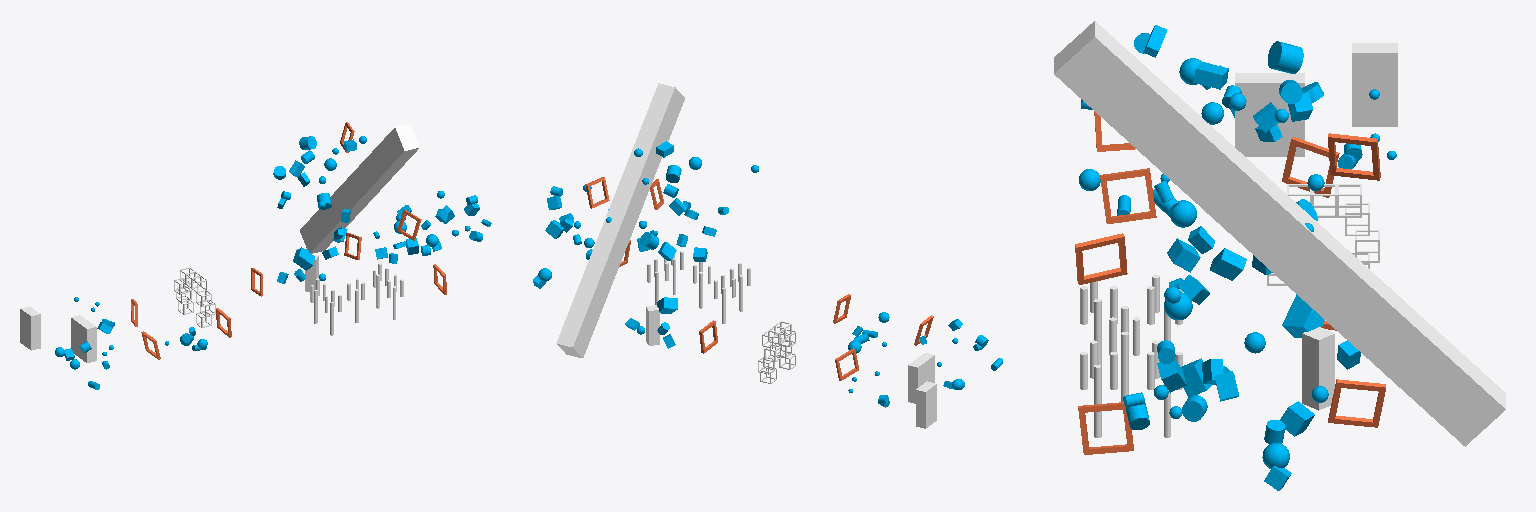
--- What the picture shows (computed from the rendered views, not written in the file) ---
3 views of the same robot in one strip: view 1: azimuth 30°, elevation 25°; view 2: azimuth 150°, elevation 25°; view 3: azimuth 270°, elevation 25° (orthographic).
Model track_rmua with 48 links and 47 joints (47 fixed), rooted at base, posed every joint at zero.
Visible links, largest first — view 1: obstacle_2, random_obstacle_5, random_obstacle_4, obstacle_0, obstacle_1, random_obstacle_1, random_obstacle_3; view 2: obstacle_2, random_obstacle_5, random_obstacle_4, obstacle_1, obstacle_0, random_obstacle_3, random_obstacle_1, obstacle_12; view 3: obstacle_2, random_obstacle_4, random_obstacle_5, obstacle_1, obstacle_0, obstacle_12, random_obstacle_0, random_obstacle_3, gate_7, gate_9, gate_8, random_obstacle_1 (+4 smaller).
Boxes of the visible links, x1=… form: obstacle_2: x1=300, y1=123, x2=419, y2=253; random_obstacle_5: x1=273, y1=136, x2=379, y2=259; random_obstacle_4: x1=375, y1=191, x2=491, y2=263; obstacle_0: x1=71, y1=315, x2=96, y2=362; obstacle_1: x1=20, y1=306, x2=40, y2=350; random_obstacle_1: x1=55, y1=319, x2=114, y2=389; random_obstacle_3: x1=277, y1=247, x2=325, y2=283; obstacle_2: x1=556, y1=83, x2=684, y2=357; random_obstacle_5: x1=606, y1=141, x2=758, y2=261; random_obstacle_4: x1=533, y1=184, x2=608, y2=288; obstacle_1: x1=916, y1=381, x2=936, y2=428; obstacle_0: x1=908, y1=353, x2=934, y2=403; random_obstacle_3: x1=625, y1=297, x2=677, y2=348; random_obstacle_1: x1=919, y1=319, x2=1002, y2=389; obstacle_12: x1=646, y1=305, x2=659, y2=345; obstacle_2: x1=1054, y1=21, x2=1505, y2=446; random_obstacle_4: x1=1123, y1=275, x2=1314, y2=490; random_obstacle_5: x1=1167, y1=41, x2=1324, y2=288; obstacle_1: x1=1352, y1=43, x2=1397, y2=126; obstacle_0: x1=1235, y1=73, x2=1304, y2=156; obstacle_12: x1=1302, y1=327, x2=1334, y2=410; random_obstacle_0: x1=1079, y1=169, x2=1196, y2=227; random_obstacle_3: x1=1282, y1=294, x2=1360, y2=402; gate_7: x1=1328, y1=379, x2=1385, y2=427; gate_9: x1=1328, y1=133, x2=1380, y2=180; gate_8: x1=1075, y1=233, x2=1127, y2=284; random_obstacle_1: x1=1081, y1=25, x2=1234, y2=124.
Bounding box of the posed robot: 26.16 × 11.67 × 11.83 m (x, y, z).
Geometry: primitives only (box / cylinder / sphere), no mesh files.

The robot description file, URDF, robot "track_rmua":
<?xml version='1.0' encoding='UTF-8'?>
<robot name="track_rmua">
    <link name="base">
        <inertial>
            <origin xyz="0.0 0.0 0.0" rpy="0.0 -0.0 0.0"/>
            <mass value="1.0"/>
            <inertia ixx="1.0" ixy="0.0" ixz="0.0" iyy="1.0" iyz="0.0" izz="1.0"/>
        </inertial>
    </link>
    <link name="obstacle_0">
        <inertial>
            <origin xyz="0.0 0.0 0.0" rpy="0.0 -0.0 0.0"/>
            <mass value="1.0"/>
            <inertia ixx="1.0" ixy="0.0" ixz="0.0" iyy="1.0" iyz="0.0" izz="1.0"/>
        </inertial>
        <visual>
            <geometry>
                <box size="0.6 1.8 2.1"/>
            </geometry>
            <material name="color[1.0, 1.0, 1.0, 1.0]"/>
            <origin xyz="0.0 0.0 0.0" rpy="0.0 -0.0 0.0"/>
        </visual>
        <collision>
            <geometry>
                <box size="0.6 1.8 2.1"/>
            </geometry>
            <origin xyz="0.0 0.0 0.0" rpy="0.0 -0.0 0.0"/>
        </collision>
    </link>
    <link name="obstacle_1">
        <inertial>
            <origin xyz="0.0 0.0 0.0" rpy="0.0 -0.0 0.0"/>
            <mass value="1.0"/>
            <inertia ixx="1.0" ixy="0.0" ixz="0.0" iyy="1.0" iyz="0.0" izz="1.0"/>
        </inertial>
        <visual>
            <geometry>
                <box size="0.6 1.2 2.1"/>
            </geometry>
            <material name="color[1.0, 1.0, 1.0, 1.0]"/>
            <origin xyz="0.0 0.0 0.0" rpy="0.0 -0.0 0.0"/>
        </visual>
        <collision>
            <geometry>
                <box size="0.6 1.2 2.1"/>
            </geometry>
            <origin xyz="0.0 0.0 0.0" rpy="0.0 -0.0 0.0"/>
        </collision>
    </link>
    <link name="obstacle_2">
        <inertial>
            <origin xyz="0.0 0.0 0.0" rpy="0.0 -0.0 0.0"/>
            <mass value="1.0"/>
            <inertia ixx="1.0" ixy="0.0" ixz="0.0" iyy="1.0" iyz="0.0" izz="1.0"/>
        </inertial>
        <visual>
            <geometry>
                <box size=" 1.   1.5 15. "/>
            </geometry>
            <material name="color[1.0, 1.0, 1.0, 1.0]"/>
            <origin xyz="0.0 0.0 0.0" rpy="0.0 -0.0 0.0"/>
        </visual>
        <collision>
            <geometry>
                <box size=" 1.   1.5 15. "/>
            </geometry>
            <origin xyz="0.0 0.0 0.0" rpy="0.0 -0.0 0.0"/>
        </collision>
    </link>
    <link name="obstacle_3">
        <inertial>
            <origin xyz="0.0 0.0 0.0" rpy="0.0 -0.0 0.0"/>
            <mass value="1.0"/>
            <inertia ixx="1.0" ixy="0.0" ixz="0.0" iyy="1.0" iyz="0.0" izz="1.0"/>
        </inertial>
        <visual>
            <geometry>
                <box size="0.65 0.05 0.05"/>
            </geometry>
            <material name="color[1.0, 1.0, 1.0, 1.0]"/>
            <origin xyz="0.0 0.3 0.3" rpy="0.0 0.0 0.0"/>
        </visual>
        <visual>
            <geometry>
                <box size="0.65 0.05 0.05"/>
            </geometry>
            <material name="color[1.0, 1.0, 1.0, 1.0]"/>
            <origin xyz="0.0 0.3 -0.3" rpy="0.0 0.0 0.0"/>
        </visual>
        <visual>
            <geometry>
                <box size="0.65 0.05 0.05"/>
            </geometry>
            <material name="color[1.0, 1.0, 1.0, 1.0]"/>
            <origin xyz="0.0 -0.3 0.3" rpy="0.0 0.0 0.0"/>
        </visual>
        <visual>
            <geometry>
                <box size="0.65 0.05 0.05"/>
            </geometry>
            <material name="color[1.0, 1.0, 1.0, 1.0]"/>
            <origin xyz="0.0 -0.3 -0.3" rpy="0.0 0.0 0.0"/>
        </visual>
        <visual>
            <geometry>
                <box size="0.05 0.65 0.05"/>
            </geometry>
            <material name="color[1.0, 1.0, 1.0, 1.0]"/>
            <origin xyz="0.3 0.0 0.3" rpy="0.0 0.0 0.0"/>
        </visual>
        <visual>
            <geometry>
                <box size="0.05 0.65 0.05"/>
            </geometry>
            <material name="color[1.0, 1.0, 1.0, 1.0]"/>
            <origin xyz="0.3 0.0 -0.3" rpy="0.0 0.0 0.0"/>
        </visual>
        <visual>
            <geometry>
                <box size="0.05 0.65 0.05"/>
            </geometry>
            <material name="color[1.0, 1.0, 1.0, 1.0]"/>
            <origin xyz="-0.3 0.0 0.3" rpy="0.0 0.0 0.0"/>
        </visual>
        <visual>
            <geometry>
                <box size="0.05 0.65 0.05"/>
            </geometry>
            <material name="color[1.0, 1.0, 1.0, 1.0]"/>
            <origin xyz="-0.3 0.0 -0.3" rpy="0.0 0.0 0.0"/>
        </visual>
        <visual>
            <geometry>
                <box size="0.05 0.05 0.65"/>
            </geometry>
            <material name="color[1.0, 1.0, 1.0, 1.0]"/>
            <origin xyz="0.3 0.3 0.0" rpy="0.0 0.0 0.0"/>
        </visual>
        <visual>
            <geometry>
                <box size="0.05 0.05 0.65"/>
            </geometry>
            <material name="color[1.0, 1.0, 1.0, 1.0]"/>
            <origin xyz="0.3 -0.3 0.0" rpy="0.0 0.0 0.0"/>
        </visual>
        <visual>
            <geometry>
                <box size="0.05 0.05 0.65"/>
            </geometry>
            <material name="color[1.0, 1.0, 1.0, 1.0]"/>
            <origin xyz="-0.3 0.3 0.0" rpy="0.0 0.0 0.0"/>
        </visual>
        <visual>
            <geometry>
                <box size="0.05 0.05 0.65"/>
            </geometry>
            <material name="color[1.0, 1.0, 1.0, 1.0]"/>
            <origin xyz="-0.3 -0.3 0.0" rpy="0.0 0.0 0.0"/>
        </visual>
        <collision>
            <geometry>
                <box size="0.65 0.05 0.05"/>
            </geometry>
            <origin xyz="0.0 0.3 0.3" rpy="0.0 0.0 0.0"/>
        </collision>
        <collision>
            <geometry>
                <box size="0.65 0.05 0.05"/>
            </geometry>
            <origin xyz="0.0 0.3 -0.3" rpy="0.0 0.0 0.0"/>
        </collision>
        <collision>
            <geometry>
                <box size="0.65 0.05 0.05"/>
            </geometry>
            <origin xyz="0.0 -0.3 0.3" rpy="0.0 0.0 0.0"/>
        </collision>
        <collision>
            <geometry>
                <box size="0.65 0.05 0.05"/>
            </geometry>
            <origin xyz="0.0 -0.3 -0.3" rpy="0.0 0.0 0.0"/>
        </collision>
        <collision>
            <geometry>
                <box size="0.05 0.65 0.05"/>
            </geometry>
            <origin xyz="0.3 0.0 0.3" rpy="0.0 0.0 0.0"/>
        </collision>
        <collision>
            <geometry>
                <box size="0.05 0.65 0.05"/>
            </geometry>
            <origin xyz="0.3 0.0 -0.3" rpy="0.0 0.0 0.0"/>
        </collision>
        <collision>
            <geometry>
                <box size="0.05 0.65 0.05"/>
            </geometry>
            <origin xyz="-0.3 0.0 0.3" rpy="0.0 0.0 0.0"/>
        </collision>
        <collision>
            <geometry>
                <box size="0.05 0.65 0.05"/>
            </geometry>
            <origin xyz="-0.3 0.0 -0.3" rpy="0.0 0.0 0.0"/>
        </collision>
        <collision>
            <geometry>
                <box size="0.05 0.05 0.65"/>
            </geometry>
            <origin xyz="0.3 0.3 0.0" rpy="0.0 0.0 0.0"/>
        </collision>
        <collision>
            <geometry>
                <box size="0.05 0.05 0.65"/>
            </geometry>
            <origin xyz="0.3 -0.3 0.0" rpy="0.0 0.0 0.0"/>
        </collision>
        <collision>
            <geometry>
                <box size="0.05 0.05 0.65"/>
            </geometry>
            <origin xyz="-0.3 0.3 0.0" rpy="0.0 0.0 0.0"/>
        </collision>
        <collision>
            <geometry>
                <box size="0.05 0.05 0.65"/>
            </geometry>
            <origin xyz="-0.3 -0.3 0.0" rpy="0.0 0.0 0.0"/>
        </collision>
    </link>
    <link name="obstacle_4">
        <inertial>
            <origin xyz="0.0 0.0 0.0" rpy="0.0 -0.0 0.0"/>
            <mass value="1.0"/>
            <inertia ixx="1.0" ixy="0.0" ixz="0.0" iyy="1.0" iyz="0.0" izz="1.0"/>
        </inertial>
        <visual>
            <geometry>
                <box size="0.65 0.05 0.05"/>
            </geometry>
            <material name="color[1.0, 1.0, 1.0, 1.0]"/>
            <origin xyz="0.0 0.3 0.3" rpy="0.0 0.0 0.0"/>
        </visual>
        <visual>
            <geometry>
                <box size="0.65 0.05 0.05"/>
            </geometry>
            <material name="color[1.0, 1.0, 1.0, 1.0]"/>
            <origin xyz="0.0 0.3 -0.3" rpy="0.0 0.0 0.0"/>
        </visual>
        <visual>
            <geometry>
                <box size="0.65 0.05 0.05"/>
            </geometry>
            <material name="color[1.0, 1.0, 1.0, 1.0]"/>
            <origin xyz="0.0 -0.3 0.3" rpy="0.0 0.0 0.0"/>
        </visual>
        <visual>
            <geometry>
                <box size="0.65 0.05 0.05"/>
            </geometry>
            <material name="color[1.0, 1.0, 1.0, 1.0]"/>
            <origin xyz="0.0 -0.3 -0.3" rpy="0.0 0.0 0.0"/>
        </visual>
        <visual>
            <geometry>
                <box size="0.05 0.65 0.05"/>
            </geometry>
            <material name="color[1.0, 1.0, 1.0, 1.0]"/>
            <origin xyz="0.3 0.0 0.3" rpy="0.0 0.0 0.0"/>
        </visual>
        <visual>
            <geometry>
                <box size="0.05 0.65 0.05"/>
            </geometry>
            <material name="color[1.0, 1.0, 1.0, 1.0]"/>
            <origin xyz="0.3 0.0 -0.3" rpy="0.0 0.0 0.0"/>
        </visual>
        <visual>
            <geometry>
                <box size="0.05 0.65 0.05"/>
            </geometry>
            <material name="color[1.0, 1.0, 1.0, 1.0]"/>
            <origin xyz="-0.3 0.0 0.3" rpy="0.0 0.0 0.0"/>
        </visual>
        <visual>
            <geometry>
                <box size="0.05 0.65 0.05"/>
            </geometry>
            <material name="color[1.0, 1.0, 1.0, 1.0]"/>
            <origin xyz="-0.3 0.0 -0.3" rpy="0.0 0.0 0.0"/>
        </visual>
        <visual>
            <geometry>
                <box size="0.05 0.05 0.65"/>
            </geometry>
            <material name="color[1.0, 1.0, 1.0, 1.0]"/>
            <origin xyz="0.3 0.3 0.0" rpy="0.0 0.0 0.0"/>
        </visual>
        <visual>
            <geometry>
                <box size="0.05 0.05 0.65"/>
            </geometry>
            <material name="color[1.0, 1.0, 1.0, 1.0]"/>
            <origin xyz="0.3 -0.3 0.0" rpy="0.0 0.0 0.0"/>
        </visual>
        <visual>
            <geometry>
                <box size="0.05 0.05 0.65"/>
            </geometry>
            <material name="color[1.0, 1.0, 1.0, 1.0]"/>
            <origin xyz="-0.3 0.3 0.0" rpy="0.0 0.0 0.0"/>
        </visual>
        <visual>
            <geometry>
                <box size="0.05 0.05 0.65"/>
            </geometry>
            <material name="color[1.0, 1.0, 1.0, 1.0]"/>
            <origin xyz="-0.3 -0.3 0.0" rpy="0.0 0.0 0.0"/>
        </visual>
        <collision>
            <geometry>
                <box size="0.65 0.05 0.05"/>
            </geometry>
            <origin xyz="0.0 0.3 0.3" rpy="0.0 0.0 0.0"/>
        </collision>
        <collision>
            <geometry>
                <box size="0.65 0.05 0.05"/>
            </geometry>
            <origin xyz="0.0 0.3 -0.3" rpy="0.0 0.0 0.0"/>
        </collision>
        <collision>
            <geometry>
                <box size="0.65 0.05 0.05"/>
            </geometry>
            <origin xyz="0.0 -0.3 0.3" rpy="0.0 0.0 0.0"/>
        </collision>
        <collision>
            <geometry>
                <box size="0.65 0.05 0.05"/>
            </geometry>
            <origin xyz="0.0 -0.3 -0.3" rpy="0.0 0.0 0.0"/>
        </collision>
        <collision>
            <geometry>
                <box size="0.05 0.65 0.05"/>
            </geometry>
            <origin xyz="0.3 0.0 0.3" rpy="0.0 0.0 0.0"/>
        </collision>
        <collision>
            <geometry>
                <box size="0.05 0.65 0.05"/>
            </geometry>
            <origin xyz="0.3 0.0 -0.3" rpy="0.0 0.0 0.0"/>
        </collision>
        <collision>
            <geometry>
                <box size="0.05 0.65 0.05"/>
            </geometry>
            <origin xyz="-0.3 0.0 0.3" rpy="0.0 0.0 0.0"/>
        </collision>
        <collision>
            <geometry>
                <box size="0.05 0.65 0.05"/>
            </geometry>
            <origin xyz="-0.3 0.0 -0.3" rpy="0.0 0.0 0.0"/>
        </collision>
        <collision>
            <geometry>
                <box size="0.05 0.05 0.65"/>
            </geometry>
            <origin xyz="0.3 0.3 0.0" rpy="0.0 0.0 0.0"/>
        </collision>
        <collision>
            <geometry>
                <box size="0.05 0.05 0.65"/>
            </geometry>
            <origin xyz="0.3 -0.3 0.0" rpy="0.0 0.0 0.0"/>
        </collision>
        <collision>
            <geometry>
                <box size="0.05 0.05 0.65"/>
            </geometry>
            <origin xyz="-0.3 0.3 0.0" rpy="0.0 0.0 0.0"/>
        </collision>
        <collision>
            <geometry>
                <box size="0.05 0.05 0.65"/>
            </geometry>
            <origin xyz="-0.3 -0.3 0.0" rpy="0.0 0.0 0.0"/>
        </collision>
    </link>
    <link name="obstacle_5">
        <inertial>
            <origin xyz="0.0 0.0 0.0" rpy="0.0 -0.0 0.0"/>
            <mass value="1.0"/>
            <inertia ixx="1.0" ixy="0.0" ixz="0.0" iyy="1.0" iyz="0.0" izz="1.0"/>
        </inertial>
        <visual>
            <geometry>
                <box size="0.65 0.05 0.05"/>
            </geometry>
            <material name="color[1.0, 1.0, 1.0, 1.0]"/>
            <origin xyz="0.0 0.3 0.3" rpy="0.0 0.0 0.0"/>
        </visual>
        <visual>
            <geometry>
                <box size="0.65 0.05 0.05"/>
            </geometry>
            <material name="color[1.0, 1.0, 1.0, 1.0]"/>
            <origin xyz="0.0 0.3 -0.3" rpy="0.0 0.0 0.0"/>
        </visual>
        <visual>
            <geometry>
                <box size="0.65 0.05 0.05"/>
            </geometry>
            <material name="color[1.0, 1.0, 1.0, 1.0]"/>
            <origin xyz="0.0 -0.3 0.3" rpy="0.0 0.0 0.0"/>
        </visual>
        <visual>
            <geometry>
                <box size="0.65 0.05 0.05"/>
            </geometry>
            <material name="color[1.0, 1.0, 1.0, 1.0]"/>
            <origin xyz="0.0 -0.3 -0.3" rpy="0.0 0.0 0.0"/>
        </visual>
        <visual>
            <geometry>
                <box size="0.05 0.65 0.05"/>
            </geometry>
            <material name="color[1.0, 1.0, 1.0, 1.0]"/>
            <origin xyz="0.3 0.0 0.3" rpy="0.0 0.0 0.0"/>
        </visual>
        <visual>
            <geometry>
                <box size="0.05 0.65 0.05"/>
            </geometry>
            <material name="color[1.0, 1.0, 1.0, 1.0]"/>
            <origin xyz="0.3 0.0 -0.3" rpy="0.0 0.0 0.0"/>
        </visual>
        <visual>
            <geometry>
                <box size="0.05 0.65 0.05"/>
            </geometry>
            <material name="color[1.0, 1.0, 1.0, 1.0]"/>
            <origin xyz="-0.3 0.0 0.3" rpy="0.0 0.0 0.0"/>
        </visual>
        <visual>
            <geometry>
                <box size="0.05 0.65 0.05"/>
            </geometry>
            <material name="color[1.0, 1.0, 1.0, 1.0]"/>
            <origin xyz="-0.3 0.0 -0.3" rpy="0.0 0.0 0.0"/>
        </visual>
        <visual>
            <geometry>
                <box size="0.05 0.05 0.65"/>
            </geometry>
            <material name="color[1.0, 1.0, 1.0, 1.0]"/>
            <origin xyz="0.3 0.3 0.0" rpy="0.0 0.0 0.0"/>
        </visual>
        <visual>
            <geometry>
                <box size="0.05 0.05 0.65"/>
            </geometry>
            <material name="color[1.0, 1.0, 1.0, 1.0]"/>
            <origin xyz="0.3 -0.3 0.0" rpy="0.0 0.0 0.0"/>
        </visual>
        <visual>
            <geometry>
                <box size="0.05 0.05 0.65"/>
            </geometry>
            <material name="color[1.0, 1.0, 1.0, 1.0]"/>
            <origin xyz="-0.3 0.3 0.0" rpy="0.0 0.0 0.0"/>
        </visual>
        <visual>
            <geometry>
                <box size="0.05 0.05 0.65"/>
            </geometry>
            <material name="color[1.0, 1.0, 1.0, 1.0]"/>
            <origin xyz="-0.3 -0.3 0.0" rpy="0.0 0.0 0.0"/>
        </visual>
        <collision>
            <geometry>
                <box size="0.65 0.05 0.05"/>
            </geometry>
            <origin xyz="0.0 0.3 0.3" rpy="0.0 0.0 0.0"/>
        </collision>
        <collision>
            <geometry>
                <box size="0.65 0.05 0.05"/>
            </geometry>
            <origin xyz="0.0 0.3 -0.3" rpy="0.0 0.0 0.0"/>
        </collision>
        <collision>
            <geometry>
                <box size="0.65 0.05 0.05"/>
            </geometry>
            <origin xyz="0.0 -0.3 0.3" rpy="0.0 0.0 0.0"/>
        </collision>
        <collision>
            <geometry>
                <box size="0.65 0.05 0.05"/>
            </geometry>
            <origin xyz="0.0 -0.3 -0.3" rpy="0.0 0.0 0.0"/>
        </collision>
        <collision>
            <geometry>
                <box size="0.05 0.65 0.05"/>
            </geometry>
            <origin xyz="0.3 0.0 0.3" rpy="0.0 0.0 0.0"/>
        </collision>
        <collision>
            <geometry>
                <box size="0.05 0.65 0.05"/>
            </geometry>
            <origin xyz="0.3 0.0 -0.3" rpy="0.0 0.0 0.0"/>
        </collision>
        <collision>
            <geometry>
                <box size="0.05 0.65 0.05"/>
            </geometry>
            <origin xyz="-0.3 0.0 0.3" rpy="0.0 0.0 0.0"/>
        </collision>
        <collision>
            <geometry>
                <box size="0.05 0.65 0.05"/>
            </geometry>
            <origin xyz="-0.3 0.0 -0.3" rpy="0.0 0.0 0.0"/>
        </collision>
        <collision>
            <geometry>
                <box size="0.05 0.05 0.65"/>
            </geometry>
            <origin xyz="0.3 0.3 0.0" rpy="0.0 0.0 0.0"/>
        </collision>
        <collision>
            <geometry>
                <box size="0.05 0.05 0.65"/>
            </geometry>
            <origin xyz="0.3 -0.3 0.0" rpy="0.0 0.0 0.0"/>
        </collision>
        <collision>
            <geometry>
                <box size="0.05 0.05 0.65"/>
            </geometry>
            <origin xyz="-0.3 0.3 0.0" rpy="0.0 0.0 0.0"/>
        </collision>
        <collision>
            <geometry>
                <box size="0.05 0.05 0.65"/>
            </geometry>
            <origin xyz="-0.3 -0.3 0.0" rpy="0.0 0.0 0.0"/>
        </collision>
    </link>
    <link name="obstacle_6">
        <inertial>
            <origin xyz="0.0 0.0 0.0" rpy="0.0 -0.0 0.0"/>
            <mass value="1.0"/>
            <inertia ixx="1.0" ixy="0.0" ixz="0.0" iyy="1.0" iyz="0.0" izz="1.0"/>
        </inertial>
        <visual>
            <geometry>
                <box size="0.65 0.05 0.05"/>
            </geometry>
            <material name="color[1.0, 1.0, 1.0, 1.0]"/>
            <origin xyz="0.0 0.3 0.3" rpy="0.0 0.0 0.0"/>
        </visual>
        <visual>
            <geometry>
                <box size="0.65 0.05 0.05"/>
            </geometry>
            <material name="color[1.0, 1.0, 1.0, 1.0]"/>
            <origin xyz="0.0 0.3 -0.3" rpy="0.0 0.0 0.0"/>
        </visual>
        <visual>
            <geometry>
                <box size="0.65 0.05 0.05"/>
            </geometry>
            <material name="color[1.0, 1.0, 1.0, 1.0]"/>
            <origin xyz="0.0 -0.3 0.3" rpy="0.0 0.0 0.0"/>
        </visual>
        <visual>
            <geometry>
                <box size="0.65 0.05 0.05"/>
            </geometry>
            <material name="color[1.0, 1.0, 1.0, 1.0]"/>
            <origin xyz="0.0 -0.3 -0.3" rpy="0.0 0.0 0.0"/>
        </visual>
        <visual>
            <geometry>
                <box size="0.05 0.65 0.05"/>
            </geometry>
            <material name="color[1.0, 1.0, 1.0, 1.0]"/>
            <origin xyz="0.3 0.0 0.3" rpy="0.0 0.0 0.0"/>
        </visual>
        <visual>
            <geometry>
                <box size="0.05 0.65 0.05"/>
            </geometry>
            <material name="color[1.0, 1.0, 1.0, 1.0]"/>
            <origin xyz="0.3 0.0 -0.3" rpy="0.0 0.0 0.0"/>
        </visual>
        <visual>
            <geometry>
                <box size="0.05 0.65 0.05"/>
            </geometry>
            <material name="color[1.0, 1.0, 1.0, 1.0]"/>
            <origin xyz="-0.3 0.0 0.3" rpy="0.0 0.0 0.0"/>
        </visual>
        <visual>
            <geometry>
                <box size="0.05 0.65 0.05"/>
            </geometry>
            <material name="color[1.0, 1.0, 1.0, 1.0]"/>
            <origin xyz="-0.3 0.0 -0.3" rpy="0.0 0.0 0.0"/>
        </visual>
        <visual>
            <geometry>
                <box size="0.05 0.05 0.65"/>
            </geometry>
            <material name="color[1.0, 1.0, 1.0, 1.0]"/>
            <origin xyz="0.3 0.3 0.0" rpy="0.0 0.0 0.0"/>
        </visual>
        <visual>
            <geometry>
                <box size="0.05 0.05 0.65"/>
            </geometry>
            <material name="color[1.0, 1.0, 1.0, 1.0]"/>
            <origin xyz="0.3 -0.3 0.0" rpy="0.0 0.0 0.0"/>
        </visual>
        <visual>
            <geometry>
                <box size="0.05 0.05 0.65"/>
            </geometry>
            <material name="color[1.0, 1.0, 1.0, 1.0]"/>
            <origin xyz="-0.3 0.3 0.0" rpy="0.0 0.0 0.0"/>
        </visual>
        <visual>
            <geometry>
                <box size="0.05 0.05 0.65"/>
            </geometry>
            <material name="color[1.0, 1.0, 1.0, 1.0]"/>
            <origin xyz="-0.3 -0.3 0.0" rpy="0.0 0.0 0.0"/>
        </visual>
        <collision>
            <geometry>
                <box size="0.65 0.05 0.05"/>
            </geometry>
            <origin xyz="0.0 0.3 0.3" rpy="0.0 0.0 0.0"/>
        </collision>
        <collision>
            <geometry>
                <box size="0.65 0.05 0.05"/>
            </geometry>
            <origin xyz="0.0 0.3 -0.3" rpy="0.0 0.0 0.0"/>
        </collision>
        <collision>
            <geometry>
                <box size="0.65 0.05 0.05"/>
            </geometry>
            <origin xyz="0.0 -0.3 0.3" rpy="0.0 0.0 0.0"/>
        </collision>
        <collision>
            <geometry>
                <box size="0.65 0.05 0.05"/>
            </geometry>
            <origin xyz="0.0 -0.3 -0.3" rpy="0.0 0.0 0.0"/>
        </collision>
        <collision>
            <geometry>
                <box size="0.05 0.65 0.05"/>
            </geometry>
            <origin xyz="0.3 0.0 0.3" rpy="0.0 0.0 0.0"/>
        </collision>
        <collision>
            <geometry>
                <box size="0.05 0.65 0.05"/>
            </geometry>
            <origin xyz="0.3 0.0 -0.3" rpy="0.0 0.0 0.0"/>
        </collision>
        <collision>
            <geometry>
                <box size="0.05 0.65 0.05"/>
            </geometry>
            <origin xyz="-0.3 0.0 0.3" rpy="0.0 0.0 0.0"/>
        </collision>
        <collision>
            <geometry>
                <box size="0.05 0.65 0.05"/>
            </geometry>
            <origin xyz="-0.3 0.0 -0.3" rpy="0.0 0.0 0.0"/>
        </collision>
        <collision>
            <geometry>
                <box size="0.05 0.05 0.65"/>
            </geometry>
            <origin xyz="0.3 0.3 0.0" rpy="0.0 0.0 0.0"/>
        </collision>
        <collision>
            <geometry>
                <box size="0.05 0.05 0.65"/>
            </geometry>
            <origin xyz="0.3 -0.3 0.0" rpy="0.0 0.0 0.0"/>
        </collision>
        <collision>
            <geometry>
                <box size="0.05 0.05 0.65"/>
            </geometry>
            <origin xyz="-0.3 0.3 0.0" rpy="0.0 0.0 0.0"/>
        </collision>
        <collision>
            <geometry>
                <box size="0.05 0.05 0.65"/>
            </geometry>
            <origin xyz="-0.3 -0.3 0.0" rpy="0.0 0.0 0.0"/>
        </collision>
    </link>
    <link name="obstacle_7">
        <inertial>
            <origin xyz="0.0 0.0 0.0" rpy="0.0 -0.0 0.0"/>
            <mass value="1.0"/>
            <inertia ixx="1.0" ixy="0.0" ixz="0.0" iyy="1.0" iyz="0.0" izz="1.0"/>
        </inertial>
        <visual>
            <geometry>
                <box size="0.65 0.05 0.05"/>
            </geometry>
            <material name="color[1.0, 1.0, 1.0, 1.0]"/>
            <origin xyz="0.0 0.3 0.3" rpy="0.0 0.0 0.0"/>
        </visual>
        <visual>
            <geometry>
                <box size="0.65 0.05 0.05"/>
            </geometry>
            <material name="color[1.0, 1.0, 1.0, 1.0]"/>
            <origin xyz="0.0 0.3 -0.3" rpy="0.0 0.0 0.0"/>
        </visual>
        <visual>
            <geometry>
                <box size="0.65 0.05 0.05"/>
            </geometry>
            <material name="color[1.0, 1.0, 1.0, 1.0]"/>
            <origin xyz="0.0 -0.3 0.3" rpy="0.0 0.0 0.0"/>
        </visual>
        <visual>
            <geometry>
                <box size="0.65 0.05 0.05"/>
            </geometry>
            <material name="color[1.0, 1.0, 1.0, 1.0]"/>
            <origin xyz="0.0 -0.3 -0.3" rpy="0.0 0.0 0.0"/>
        </visual>
        <visual>
            <geometry>
                <box size="0.05 0.65 0.05"/>
            </geometry>
            <material name="color[1.0, 1.0, 1.0, 1.0]"/>
            <origin xyz="0.3 0.0 0.3" rpy="0.0 0.0 0.0"/>
        </visual>
        <visual>
            <geometry>
                <box size="0.05 0.65 0.05"/>
            </geometry>
            <material name="color[1.0, 1.0, 1.0, 1.0]"/>
            <origin xyz="0.3 0.0 -0.3" rpy="0.0 0.0 0.0"/>
        </visual>
        <visual>
            <geometry>
                <box size="0.05 0.65 0.05"/>
            </geometry>
            <material name="color[1.0, 1.0, 1.0, 1.0]"/>
            <origin xyz="-0.3 0.0 0.3" rpy="0.0 0.0 0.0"/>
        </visual>
        <visual>
            <geometry>
                <box size="0.05 0.65 0.05"/>
            </geometry>
            <material name="color[1.0, 1.0, 1.0, 1.0]"/>
            <origin xyz="-0.3 0.0 -0.3" rpy="0.0 0.0 0.0"/>
        </visual>
        <visual>
            <geometry>
                <box size="0.05 0.05 0.65"/>
            </geometry>
            <material name="color[1.0, 1.0, 1.0, 1.0]"/>
            <origin xyz="0.3 0.3 0.0" rpy="0.0 0.0 0.0"/>
        </visual>
        <visual>
            <geometry>
                <box size="0.05 0.05 0.65"/>
            </geometry>
            <material name="color[1.0, 1.0, 1.0, 1.0]"/>
            <origin xyz="0.3 -0.3 0.0" rpy="0.0 0.0 0.0"/>
        </visual>
        <visual>
            <geometry>
                <box size="0.05 0.05 0.65"/>
            </geometry>
            <material name="color[1.0, 1.0, 1.0, 1.0]"/>
            <origin xyz="-0.3 0.3 0.0" rpy="0.0 0.0 0.0"/>
        </visual>
        <visual>
            <geometry>
                <box size="0.05 0.05 0.65"/>
            </geometry>
            <material name="color[1.0, 1.0, 1.0, 1.0]"/>
            <origin xyz="-0.3 -0.3 0.0" rpy="0.0 0.0 0.0"/>
        </visual>
        <collision>
            <geometry>
                <box size="0.65 0.05 0.05"/>
            </geometry>
            <origin xyz="0.0 0.3 0.3" rpy="0.0 0.0 0.0"/>
        </collision>
        <collision>
            <geometry>
                <box size="0.65 0.05 0.05"/>
            </geometry>
            <origin xyz="0.0 0.3 -0.3" rpy="0.0 0.0 0.0"/>
        </collision>
        <collision>
            <geometry>
                <box size="0.65 0.05 0.05"/>
            </geometry>
            <origin xyz="0.0 -0.3 0.3" rpy="0.0 0.0 0.0"/>
        </collision>
        <collision>
            <geometry>
                <box size="0.65 0.05 0.05"/>
            </geometry>
            <origin xyz="0.0 -0.3 -0.3" rpy="0.0 0.0 0.0"/>
        </collision>
        <collision>
            <geometry>
                <box size="0.05 0.65 0.05"/>
            </geometry>
            <origin xyz="0.3 0.0 0.3" rpy="0.0 0.0 0.0"/>
        </collision>
        <collision>
            <geometry>
                <box size="0.05 0.65 0.05"/>
            </geometry>
            <origin xyz="0.3 0.0 -0.3" rpy="0.0 0.0 0.0"/>
        </collision>
        <collision>
            <geometry>
                <box size="0.05 0.65 0.05"/>
            </geometry>
            <origin xyz="-0.3 0.0 0.3" rpy="0.0 0.0 0.0"/>
        </collision>
        <collision>
            <geometry>
                <box size="0.05 0.65 0.05"/>
            </geometry>
            <origin xyz="-0.3 0.0 -0.3" rpy="0.0 0.0 0.0"/>
        </collision>
        <collision>
            <geometry>
                <box size="0.05 0.05 0.65"/>
            </geometry>
            <origin xyz="0.3 0.3 0.0" rpy="0.0 0.0 0.0"/>
        </collision>
        <collision>
            <geometry>
                <box size="0.05 0.05 0.65"/>
            </geometry>
            <origin xyz="0.3 -0.3 0.0" rpy="0.0 0.0 0.0"/>
        </collision>
        <collision>
            <geometry>
                <box size="0.05 0.05 0.65"/>
            </geometry>
            <origin xyz="-0.3 0.3 0.0" rpy="0.0 0.0 0.0"/>
        </collision>
        <collision>
            <geometry>
                <box size="0.05 0.05 0.65"/>
            </geometry>
            <origin xyz="-0.3 -0.3 0.0" rpy="0.0 0.0 0.0"/>
        </collision>
    </link>
    <link name="obstacle_8">
        <inertial>
            <origin xyz="0.0 0.0 0.0" rpy="0.0 -0.0 0.0"/>
            <mass value="1.0"/>
            <inertia ixx="1.0" ixy="0.0" ixz="0.0" iyy="1.0" iyz="0.0" izz="1.0"/>
        </inertial>
        <visual>
            <geometry>
                <box size="0.65 0.05 0.05"/>
            </geometry>
            <material name="color[1.0, 1.0, 1.0, 1.0]"/>
            <origin xyz="0.0 0.3 0.3" rpy="0.0 0.0 0.0"/>
        </visual>
        <visual>
            <geometry>
                <box size="0.65 0.05 0.05"/>
            </geometry>
            <material name="color[1.0, 1.0, 1.0, 1.0]"/>
            <origin xyz="0.0 0.3 -0.3" rpy="0.0 0.0 0.0"/>
        </visual>
        <visual>
            <geometry>
                <box size="0.65 0.05 0.05"/>
            </geometry>
            <material name="color[1.0, 1.0, 1.0, 1.0]"/>
            <origin xyz="0.0 -0.3 0.3" rpy="0.0 0.0 0.0"/>
        </visual>
        <visual>
            <geometry>
                <box size="0.65 0.05 0.05"/>
            </geometry>
            <material name="color[1.0, 1.0, 1.0, 1.0]"/>
            <origin xyz="0.0 -0.3 -0.3" rpy="0.0 0.0 0.0"/>
        </visual>
        <visual>
            <geometry>
                <box size="0.05 0.65 0.05"/>
            </geometry>
            <material name="color[1.0, 1.0, 1.0, 1.0]"/>
            <origin xyz="0.3 0.0 0.3" rpy="0.0 0.0 0.0"/>
        </visual>
        <visual>
            <geometry>
                <box size="0.05 0.65 0.05"/>
            </geometry>
            <material name="color[1.0, 1.0, 1.0, 1.0]"/>
            <origin xyz="0.3 0.0 -0.3" rpy="0.0 0.0 0.0"/>
        </visual>
        <visual>
            <geometry>
                <box size="0.05 0.65 0.05"/>
            </geometry>
            <material name="color[1.0, 1.0, 1.0, 1.0]"/>
            <origin xyz="-0.3 0.0 0.3" rpy="0.0 0.0 0.0"/>
        </visual>
        <visual>
            <geometry>
                <box size="0.05 0.65 0.05"/>
            </geometry>
            <material name="color[1.0, 1.0, 1.0, 1.0]"/>
            <origin xyz="-0.3 0.0 -0.3" rpy="0.0 0.0 0.0"/>
        </visual>
        <visual>
            <geometry>
                <box size="0.05 0.05 0.65"/>
            </geometry>
            <material name="color[1.0, 1.0, 1.0, 1.0]"/>
            <origin xyz="0.3 0.3 0.0" rpy="0.0 0.0 0.0"/>
        </visual>
        <visual>
            <geometry>
                <box size="0.05 0.05 0.65"/>
            </geometry>
            <material name="color[1.0, 1.0, 1.0, 1.0]"/>
            <origin xyz="0.3 -0.3 0.0" rpy="0.0 0.0 0.0"/>
        </visual>
        <visual>
            <geometry>
                <box size="0.05 0.05 0.65"/>
            </geometry>
            <material name="color[1.0, 1.0, 1.0, 1.0]"/>
            <origin xyz="-0.3 0.3 0.0" rpy="0.0 0.0 0.0"/>
        </visual>
        <visual>
            <geometry>
                <box size="0.05 0.05 0.65"/>
            </geometry>
            <material name="color[1.0, 1.0, 1.0, 1.0]"/>
            <origin xyz="-0.3 -0.3 0.0" rpy="0.0 0.0 0.0"/>
        </visual>
        <collision>
            <geometry>
                <box size="0.65 0.05 0.05"/>
            </geometry>
            <origin xyz="0.0 0.3 0.3" rpy="0.0 0.0 0.0"/>
        </collision>
        <collision>
            <geometry>
                <box size="0.65 0.05 0.05"/>
            </geometry>
            <origin xyz="0.0 0.3 -0.3" rpy="0.0 0.0 0.0"/>
        </collision>
        <collision>
            <geometry>
                <box size="0.65 0.05 0.05"/>
            </geometry>
            <origin xyz="0.0 -0.3 0.3" rpy="0.0 0.0 0.0"/>
        </collision>
        <collision>
            <geometry>
                <box size="0.65 0.05 0.05"/>
            </geometry>
            <origin xyz="0.0 -0.3 -0.3" rpy="0.0 0.0 0.0"/>
        </collision>
        <collision>
            <geometry>
                <box size="0.05 0.65 0.05"/>
            </geometry>
            <origin xyz="0.3 0.0 0.3" rpy="0.0 0.0 0.0"/>
        </collision>
        <collision>
            <geometry>
                <box size="0.05 0.65 0.05"/>
            </geometry>
            <origin xyz="0.3 0.0 -0.3" rpy="0.0 0.0 0.0"/>
        </collision>
        <collision>
            <geometry>
                <box size="0.05 0.65 0.05"/>
            </geometry>
            <origin xyz="-0.3 0.0 0.3" rpy="0.0 0.0 0.0"/>
        </collision>
        <collision>
            <geometry>
                <box size="0.05 0.65 0.05"/>
            </geometry>
            <origin xyz="-0.3 0.0 -0.3" rpy="0.0 0.0 0.0"/>
        </collision>
        <collision>
            <geometry>
                <box size="0.05 0.05 0.65"/>
            </geometry>
            <origin xyz="0.3 0.3 0.0" rpy="0.0 0.0 0.0"/>
        </collision>
        <collision>
            <geometry>
                <box size="0.05 0.05 0.65"/>
            </geometry>
            <origin xyz="0.3 -0.3 0.0" rpy="0.0 0.0 0.0"/>
        </collision>
        <collision>
            <geometry>
                <box size="0.05 0.05 0.65"/>
            </geometry>
            <origin xyz="-0.3 0.3 0.0" rpy="0.0 0.0 0.0"/>
        </collision>
        <collision>
            <geometry>
                <box size="0.05 0.05 0.65"/>
            </geometry>
            <origin xyz="-0.3 -0.3 0.0" rpy="0.0 0.0 0.0"/>
        </collision>
    </link>
    <link name="obstacle_9">
        <inertial>
            <origin xyz="0.0 0.0 0.0" rpy="0.0 -0.0 0.0"/>
            <mass value="1.0"/>
            <inertia ixx="1.0" ixy="0.0" ixz="0.0" iyy="1.0" iyz="0.0" izz="1.0"/>
        </inertial>
        <visual>
            <geometry>
                <box size="0.65 0.05 0.05"/>
            </geometry>
            <material name="color[1.0, 1.0, 1.0, 1.0]"/>
            <origin xyz="0.0 0.3 0.3" rpy="0.0 0.0 0.0"/>
        </visual>
        <visual>
            <geometry>
                <box size="0.65 0.05 0.05"/>
            </geometry>
            <material name="color[1.0, 1.0, 1.0, 1.0]"/>
            <origin xyz="0.0 0.3 -0.3" rpy="0.0 0.0 0.0"/>
        </visual>
        <visual>
            <geometry>
                <box size="0.65 0.05 0.05"/>
            </geometry>
            <material name="color[1.0, 1.0, 1.0, 1.0]"/>
            <origin xyz="0.0 -0.3 0.3" rpy="0.0 0.0 0.0"/>
        </visual>
        <visual>
            <geometry>
                <box size="0.65 0.05 0.05"/>
            </geometry>
            <material name="color[1.0, 1.0, 1.0, 1.0]"/>
            <origin xyz="0.0 -0.3 -0.3" rpy="0.0 0.0 0.0"/>
        </visual>
        <visual>
            <geometry>
                <box size="0.05 0.65 0.05"/>
            </geometry>
            <material name="color[1.0, 1.0, 1.0, 1.0]"/>
            <origin xyz="0.3 0.0 0.3" rpy="0.0 0.0 0.0"/>
        </visual>
        <visual>
            <geometry>
                <box size="0.05 0.65 0.05"/>
            </geometry>
            <material name="color[1.0, 1.0, 1.0, 1.0]"/>
            <origin xyz="0.3 0.0 -0.3" rpy="0.0 0.0 0.0"/>
        </visual>
        <visual>
            <geometry>
                <box size="0.05 0.65 0.05"/>
            </geometry>
            <material name="color[1.0, 1.0, 1.0, 1.0]"/>
            <origin xyz="-0.3 0.0 0.3" rpy="0.0 0.0 0.0"/>
        </visual>
        <visual>
            <geometry>
                <box size="0.05 0.65 0.05"/>
            </geometry>
            <material name="color[1.0, 1.0, 1.0, 1.0]"/>
            <origin xyz="-0.3 0.0 -0.3" rpy="0.0 0.0 0.0"/>
        </visual>
        <visual>
            <geometry>
                <box size="0.05 0.05 0.65"/>
            </geometry>
            <material name="color[1.0, 1.0, 1.0, 1.0]"/>
            <origin xyz="0.3 0.3 0.0" rpy="0.0 0.0 0.0"/>
        </visual>
        <visual>
            <geometry>
                <box size="0.05 0.05 0.65"/>
            </geometry>
            <material name="color[1.0, 1.0, 1.0, 1.0]"/>
            <origin xyz="0.3 -0.3 0.0" rpy="0.0 0.0 0.0"/>
        </visual>
        <visual>
            <geometry>
                <box size="0.05 0.05 0.65"/>
            </geometry>
            <material name="color[1.0, 1.0, 1.0, 1.0]"/>
            <origin xyz="-0.3 0.3 0.0" rpy="0.0 0.0 0.0"/>
        </visual>
        <visual>
            <geometry>
                <box size="0.05 0.05 0.65"/>
            </geometry>
            <material name="color[1.0, 1.0, 1.0, 1.0]"/>
            <origin xyz="-0.3 -0.3 0.0" rpy="0.0 0.0 0.0"/>
        </visual>
        <collision>
            <geometry>
                <box size="0.65 0.05 0.05"/>
            </geometry>
            <origin xyz="0.0 0.3 0.3" rpy="0.0 0.0 0.0"/>
        </collision>
        <collision>
            <geometry>
                <box size="0.65 0.05 0.05"/>
            </geometry>
            <origin xyz="0.0 0.3 -0.3" rpy="0.0 0.0 0.0"/>
        </collision>
        <collision>
            <geometry>
                <box size="0.65 0.05 0.05"/>
            </geometry>
            <origin xyz="0.0 -0.3 0.3" rpy="0.0 0.0 0.0"/>
        </collision>
        <collision>
            <geometry>
                <box size="0.65 0.05 0.05"/>
            </geometry>
            <origin xyz="0.0 -0.3 -0.3" rpy="0.0 0.0 0.0"/>
        </collision>
        <collision>
            <geometry>
                <box size="0.05 0.65 0.05"/>
            </geometry>
            <origin xyz="0.3 0.0 0.3" rpy="0.0 0.0 0.0"/>
        </collision>
        <collision>
            <geometry>
                <box size="0.05 0.65 0.05"/>
            </geometry>
            <origin xyz="0.3 0.0 -0.3" rpy="0.0 0.0 0.0"/>
        </collision>
        <collision>
            <geometry>
                <box size="0.05 0.65 0.05"/>
            </geometry>
            <origin xyz="-0.3 0.0 0.3" rpy="0.0 0.0 0.0"/>
        </collision>
        <collision>
            <geometry>
                <box size="0.05 0.65 0.05"/>
            </geometry>
            <origin xyz="-0.3 0.0 -0.3" rpy="0.0 0.0 0.0"/>
        </collision>
        <collision>
            <geometry>
                <box size="0.05 0.05 0.65"/>
            </geometry>
            <origin xyz="0.3 0.3 0.0" rpy="0.0 0.0 0.0"/>
        </collision>
        <collision>
            <geometry>
                <box size="0.05 0.05 0.65"/>
            </geometry>
            <origin xyz="0.3 -0.3 0.0" rpy="0.0 0.0 0.0"/>
        </collision>
        <collision>
            <geometry>
                <box size="0.05 0.05 0.65"/>
            </geometry>
            <origin xyz="-0.3 0.3 0.0" rpy="0.0 0.0 0.0"/>
        </collision>
        <collision>
            <geometry>
                <box size="0.05 0.05 0.65"/>
            </geometry>
            <origin xyz="-0.3 -0.3 0.0" rpy="0.0 0.0 0.0"/>
        </collision>
    </link>
    <link name="obstacle_10">
        <inertial>
            <origin xyz="0.0 0.0 0.0" rpy="0.0 -0.0 0.0"/>
            <mass value="1.0"/>
            <inertia ixx="1.0" ixy="0.0" ixz="0.0" iyy="1.0" iyz="0.0" izz="1.0"/>
        </inertial>
        <visual>
            <geometry>
                <box size="0.65 0.05 0.05"/>
            </geometry>
            <material name="color[1.0, 1.0, 1.0, 1.0]"/>
            <origin xyz="0.0 0.3 0.3" rpy="0.0 0.0 0.0"/>
        </visual>
        <visual>
            <geometry>
                <box size="0.65 0.05 0.05"/>
            </geometry>
            <material name="color[1.0, 1.0, 1.0, 1.0]"/>
            <origin xyz="0.0 0.3 -0.3" rpy="0.0 0.0 0.0"/>
        </visual>
        <visual>
            <geometry>
                <box size="0.65 0.05 0.05"/>
            </geometry>
            <material name="color[1.0, 1.0, 1.0, 1.0]"/>
            <origin xyz="0.0 -0.3 0.3" rpy="0.0 0.0 0.0"/>
        </visual>
        <visual>
            <geometry>
                <box size="0.65 0.05 0.05"/>
            </geometry>
            <material name="color[1.0, 1.0, 1.0, 1.0]"/>
            <origin xyz="0.0 -0.3 -0.3" rpy="0.0 0.0 0.0"/>
        </visual>
        <visual>
            <geometry>
                <box size="0.05 0.65 0.05"/>
            </geometry>
            <material name="color[1.0, 1.0, 1.0, 1.0]"/>
            <origin xyz="0.3 0.0 0.3" rpy="0.0 0.0 0.0"/>
        </visual>
        <visual>
            <geometry>
                <box size="0.05 0.65 0.05"/>
            </geometry>
            <material name="color[1.0, 1.0, 1.0, 1.0]"/>
            <origin xyz="0.3 0.0 -0.3" rpy="0.0 0.0 0.0"/>
        </visual>
        <visual>
            <geometry>
                <box size="0.05 0.65 0.05"/>
            </geometry>
            <material name="color[1.0, 1.0, 1.0, 1.0]"/>
            <origin xyz="-0.3 0.0 0.3" rpy="0.0 0.0 0.0"/>
        </visual>
        <visual>
            <geometry>
                <box size="0.05 0.65 0.05"/>
            </geometry>
            <material name="color[1.0, 1.0, 1.0, 1.0]"/>
            <origin xyz="-0.3 0.0 -0.3" rpy="0.0 0.0 0.0"/>
        </visual>
        <visual>
            <geometry>
                <box size="0.05 0.05 0.65"/>
            </geometry>
            <material name="color[1.0, 1.0, 1.0, 1.0]"/>
            <origin xyz="0.3 0.3 0.0" rpy="0.0 0.0 0.0"/>
        </visual>
        <visual>
            <geometry>
                <box size="0.05 0.05 0.65"/>
            </geometry>
            <material name="color[1.0, 1.0, 1.0, 1.0]"/>
            <origin xyz="0.3 -0.3 0.0" rpy="0.0 0.0 0.0"/>
        </visual>
        <visual>
            <geometry>
                <box size="0.05 0.05 0.65"/>
            </geometry>
            <material name="color[1.0, 1.0, 1.0, 1.0]"/>
            <origin xyz="-0.3 0.3 0.0" rpy="0.0 0.0 0.0"/>
        </visual>
        <visual>
            <geometry>
                <box size="0.05 0.05 0.65"/>
            </geometry>
            <material name="color[1.0, 1.0, 1.0, 1.0]"/>
            <origin xyz="-0.3 -0.3 0.0" rpy="0.0 0.0 0.0"/>
        </visual>
        <collision>
            <geometry>
                <box size="0.65 0.05 0.05"/>
            </geometry>
            <origin xyz="0.0 0.3 0.3" rpy="0.0 0.0 0.0"/>
        </collision>
        <collision>
            <geometry>
                <box size="0.65 0.05 0.05"/>
            </geometry>
            <origin xyz="0.0 0.3 -0.3" rpy="0.0 0.0 0.0"/>
        </collision>
        <collision>
            <geometry>
                <box size="0.65 0.05 0.05"/>
            </geometry>
            <origin xyz="0.0 -0.3 0.3" rpy="0.0 0.0 0.0"/>
        </collision>
        <collision>
            <geometry>
                <box size="0.65 0.05 0.05"/>
            </geometry>
            <origin xyz="0.0 -0.3 -0.3" rpy="0.0 0.0 0.0"/>
        </collision>
        <collision>
            <geometry>
                <box size="0.05 0.65 0.05"/>
            </geometry>
            <origin xyz="0.3 0.0 0.3" rpy="0.0 0.0 0.0"/>
        </collision>
        <collision>
            <geometry>
                <box size="0.05 0.65 0.05"/>
            </geometry>
            <origin xyz="0.3 0.0 -0.3" rpy="0.0 0.0 0.0"/>
        </collision>
        <collision>
            <geometry>
                <box size="0.05 0.65 0.05"/>
            </geometry>
            <origin xyz="-0.3 0.0 0.3" rpy="0.0 0.0 0.0"/>
        </collision>
        <collision>
            <geometry>
                <box size="0.05 0.65 0.05"/>
            </geometry>
            <origin xyz="-0.3 0.0 -0.3" rpy="0.0 0.0 0.0"/>
        </collision>
        <collision>
            <geometry>
                <box size="0.05 0.05 0.65"/>
            </geometry>
            <origin xyz="0.3 0.3 0.0" rpy="0.0 0.0 0.0"/>
        </collision>
        <collision>
            <geometry>
                <box size="0.05 0.05 0.65"/>
            </geometry>
            <origin xyz="0.3 -0.3 0.0" rpy="0.0 0.0 0.0"/>
        </collision>
        <collision>
            <geometry>
                <box size="0.05 0.05 0.65"/>
            </geometry>
            <origin xyz="-0.3 0.3 0.0" rpy="0.0 0.0 0.0"/>
        </collision>
        <collision>
            <geometry>
                <box size="0.05 0.05 0.65"/>
            </geometry>
            <origin xyz="-0.3 -0.3 0.0" rpy="0.0 0.0 0.0"/>
        </collision>
    </link>
    <link name="obstacle_11">
        <inertial>
            <origin xyz="0.0 0.0 0.0" rpy="0.0 -0.0 0.0"/>
            <mass value="1.0"/>
            <inertia ixx="1.0" ixy="0.0" ixz="0.0" iyy="1.0" iyz="0.0" izz="1.0"/>
        </inertial>
        <visual>
            <geometry>
                <box size="0.65 0.05 0.05"/>
            </geometry>
            <material name="color[1.0, 1.0, 1.0, 1.0]"/>
            <origin xyz="0.0 0.3 0.3" rpy="0.0 0.0 0.0"/>
        </visual>
        <visual>
            <geometry>
                <box size="0.65 0.05 0.05"/>
            </geometry>
            <material name="color[1.0, 1.0, 1.0, 1.0]"/>
            <origin xyz="0.0 0.3 -0.3" rpy="0.0 0.0 0.0"/>
        </visual>
        <visual>
            <geometry>
                <box size="0.65 0.05 0.05"/>
            </geometry>
            <material name="color[1.0, 1.0, 1.0, 1.0]"/>
            <origin xyz="0.0 -0.3 0.3" rpy="0.0 0.0 0.0"/>
        </visual>
        <visual>
            <geometry>
                <box size="0.65 0.05 0.05"/>
            </geometry>
            <material name="color[1.0, 1.0, 1.0, 1.0]"/>
            <origin xyz="0.0 -0.3 -0.3" rpy="0.0 0.0 0.0"/>
        </visual>
        <visual>
            <geometry>
                <box size="0.05 0.65 0.05"/>
            </geometry>
            <material name="color[1.0, 1.0, 1.0, 1.0]"/>
            <origin xyz="0.3 0.0 0.3" rpy="0.0 0.0 0.0"/>
        </visual>
        <visual>
            <geometry>
                <box size="0.05 0.65 0.05"/>
            </geometry>
            <material name="color[1.0, 1.0, 1.0, 1.0]"/>
            <origin xyz="0.3 0.0 -0.3" rpy="0.0 0.0 0.0"/>
        </visual>
        <visual>
            <geometry>
                <box size="0.05 0.65 0.05"/>
            </geometry>
            <material name="color[1.0, 1.0, 1.0, 1.0]"/>
            <origin xyz="-0.3 0.0 0.3" rpy="0.0 0.0 0.0"/>
        </visual>
        <visual>
            <geometry>
                <box size="0.05 0.65 0.05"/>
            </geometry>
            <material name="color[1.0, 1.0, 1.0, 1.0]"/>
            <origin xyz="-0.3 0.0 -0.3" rpy="0.0 0.0 0.0"/>
        </visual>
        <visual>
            <geometry>
                <box size="0.05 0.05 0.65"/>
            </geometry>
            <material name="color[1.0, 1.0, 1.0, 1.0]"/>
            <origin xyz="0.3 0.3 0.0" rpy="0.0 0.0 0.0"/>
        </visual>
        <visual>
            <geometry>
                <box size="0.05 0.05 0.65"/>
            </geometry>
            <material name="color[1.0, 1.0, 1.0, 1.0]"/>
            <origin xyz="0.3 -0.3 0.0" rpy="0.0 0.0 0.0"/>
        </visual>
        <visual>
            <geometry>
                <box size="0.05 0.05 0.65"/>
            </geometry>
            <material name="color[1.0, 1.0, 1.0, 1.0]"/>
            <origin xyz="-0.3 0.3 0.0" rpy="0.0 0.0 0.0"/>
        </visual>
        <visual>
            <geometry>
                <box size="0.05 0.05 0.65"/>
            </geometry>
            <material name="color[1.0, 1.0, 1.0, 1.0]"/>
            <origin xyz="-0.3 -0.3 0.0" rpy="0.0 0.0 0.0"/>
        </visual>
        <collision>
            <geometry>
                <box size="0.65 0.05 0.05"/>
            </geometry>
            <origin xyz="0.0 0.3 0.3" rpy="0.0 0.0 0.0"/>
        </collision>
        <collision>
            <geometry>
                <box size="0.65 0.05 0.05"/>
            </geometry>
            <origin xyz="0.0 0.3 -0.3" rpy="0.0 0.0 0.0"/>
        </collision>
        <collision>
            <geometry>
                <box size="0.65 0.05 0.05"/>
            </geometry>
            <origin xyz="0.0 -0.3 0.3" rpy="0.0 0.0 0.0"/>
        </collision>
        <collision>
            <geometry>
                <box size="0.65 0.05 0.05"/>
            </geometry>
            <origin xyz="0.0 -0.3 -0.3" rpy="0.0 0.0 0.0"/>
        </collision>
        <collision>
            <geometry>
                <box size="0.05 0.65 0.05"/>
            </geometry>
            <origin xyz="0.3 0.0 0.3" rpy="0.0 0.0 0.0"/>
        </collision>
        <collision>
            <geometry>
                <box size="0.05 0.65 0.05"/>
            </geometry>
            <origin xyz="0.3 0.0 -0.3" rpy="0.0 0.0 0.0"/>
        </collision>
        <collision>
            <geometry>
                <box size="0.05 0.65 0.05"/>
            </geometry>
            <origin xyz="-0.3 0.0 0.3" rpy="0.0 0.0 0.0"/>
        </collision>
        <collision>
            <geometry>
                <box size="0.05 0.65 0.05"/>
            </geometry>
            <origin xyz="-0.3 0.0 -0.3" rpy="0.0 0.0 0.0"/>
        </collision>
        <collision>
            <geometry>
                <box size="0.05 0.05 0.65"/>
            </geometry>
            <origin xyz="0.3 0.3 0.0" rpy="0.0 0.0 0.0"/>
        </collision>
        <collision>
            <geometry>
                <box size="0.05 0.05 0.65"/>
            </geometry>
            <origin xyz="0.3 -0.3 0.0" rpy="0.0 0.0 0.0"/>
        </collision>
        <collision>
            <geometry>
                <box size="0.05 0.05 0.65"/>
            </geometry>
            <origin xyz="-0.3 0.3 0.0" rpy="0.0 0.0 0.0"/>
        </collision>
        <collision>
            <geometry>
                <box size="0.05 0.05 0.65"/>
            </geometry>
            <origin xyz="-0.3 -0.3 0.0" rpy="0.0 0.0 0.0"/>
        </collision>
    </link>
    <link name="obstacle_12">
        <inertial>
            <origin xyz="0.0 0.0 0.0" rpy="0.0 -0.0 0.0"/>
            <mass value="1.0"/>
            <inertia ixx="1.0" ixy="0.0" ixz="0.0" iyy="1.0" iyz="0.0" izz="1.0"/>
        </inertial>
        <visual>
            <geometry>
                <box size="0.6 0.6 2. "/>
            </geometry>
            <material name="color[1.0, 1.0, 1.0, 1.0]"/>
            <origin xyz="0.0 0.0 0.0" rpy="0.0 -0.0 0.0"/>
        </visual>
        <collision>
            <geometry>
                <box size="0.6 0.6 2. "/>
            </geometry>
            <origin xyz="0.0 0.0 0.0" rpy="0.0 -0.0 0.0"/>
        </collision>
    </link>
    <link name="obstacle_13">
        <inertial>
            <origin xyz="0.0 0.0 0.0" rpy="0.0 -0.0 0.0"/>
            <mass value="1.0"/>
            <inertia ixx="1.0" ixy="0.0" ixz="0.0" iyy="1.0" iyz="0.0" izz="1.0"/>
        </inertial>
        <visual>
            <geometry>
                <cylinder radius="0.1" length="2.0"/>
            </geometry>
            <material name="color[1.0, 1.0, 1.0, 1.0]"/>
            <origin xyz="0.0 0.0 0.0" rpy="0.0 0.0 0.0"/>
        </visual>
        <collision>
            <geometry>
                <cylinder radius="0.1" length="2.0"/>
            </geometry>
            <origin xyz="0.0 0.0 0.0" rpy="0.0 0.0 0.0"/>
        </collision>
    </link>
    <link name="obstacle_14">
        <inertial>
            <origin xyz="0.0 0.0 0.0" rpy="0.0 -0.0 0.0"/>
            <mass value="1.0"/>
            <inertia ixx="1.0" ixy="0.0" ixz="0.0" iyy="1.0" iyz="0.0" izz="1.0"/>
        </inertial>
        <visual>
            <geometry>
                <cylinder radius="0.1" length="2.0"/>
            </geometry>
            <material name="color[1.0, 1.0, 1.0, 1.0]"/>
            <origin xyz="0.0 0.0 0.0" rpy="0.0 0.0 0.0"/>
        </visual>
        <collision>
            <geometry>
                <cylinder radius="0.1" length="2.0"/>
            </geometry>
            <origin xyz="0.0 0.0 0.0" rpy="0.0 0.0 0.0"/>
        </collision>
    </link>
    <link name="obstacle_15">
        <inertial>
            <origin xyz="0.0 0.0 0.0" rpy="0.0 -0.0 0.0"/>
            <mass value="1.0"/>
            <inertia ixx="1.0" ixy="0.0" ixz="0.0" iyy="1.0" iyz="0.0" izz="1.0"/>
        </inertial>
        <visual>
            <geometry>
                <cylinder radius="0.1" length="2.0"/>
            </geometry>
            <material name="color[1.0, 1.0, 1.0, 1.0]"/>
            <origin xyz="0.0 0.0 0.0" rpy="0.0 0.0 0.0"/>
        </visual>
        <collision>
            <geometry>
                <cylinder radius="0.1" length="2.0"/>
            </geometry>
            <origin xyz="0.0 0.0 0.0" rpy="0.0 0.0 0.0"/>
        </collision>
    </link>
    <link name="obstacle_16">
        <inertial>
            <origin xyz="0.0 0.0 0.0" rpy="0.0 -0.0 0.0"/>
            <mass value="1.0"/>
            <inertia ixx="1.0" ixy="0.0" ixz="0.0" iyy="1.0" iyz="0.0" izz="1.0"/>
        </inertial>
        <visual>
            <geometry>
                <cylinder radius="0.1" length="2.0"/>
            </geometry>
            <material name="color[1.0, 1.0, 1.0, 1.0]"/>
            <origin xyz="0.0 0.0 0.0" rpy="0.0 0.0 0.0"/>
        </visual>
        <collision>
            <geometry>
                <cylinder radius="0.1" length="2.0"/>
            </geometry>
            <origin xyz="0.0 0.0 0.0" rpy="0.0 0.0 0.0"/>
        </collision>
    </link>
    <link name="obstacle_17">
        <inertial>
            <origin xyz="0.0 0.0 0.0" rpy="0.0 -0.0 0.0"/>
            <mass value="1.0"/>
            <inertia ixx="1.0" ixy="0.0" ixz="0.0" iyy="1.0" iyz="0.0" izz="1.0"/>
        </inertial>
        <visual>
            <geometry>
                <cylinder radius="0.1" length="2.0"/>
            </geometry>
            <material name="color[1.0, 1.0, 1.0, 1.0]"/>
            <origin xyz="0.0 0.0 0.0" rpy="0.0 0.0 0.0"/>
        </visual>
        <collision>
            <geometry>
                <cylinder radius="0.1" length="2.0"/>
            </geometry>
            <origin xyz="0.0 0.0 0.0" rpy="0.0 0.0 0.0"/>
        </collision>
    </link>
    <link name="obstacle_18">
        <inertial>
            <origin xyz="0.0 0.0 0.0" rpy="0.0 -0.0 0.0"/>
            <mass value="1.0"/>
            <inertia ixx="1.0" ixy="0.0" ixz="0.0" iyy="1.0" iyz="0.0" izz="1.0"/>
        </inertial>
        <visual>
            <geometry>
                <cylinder radius="0.1" length="1.0"/>
            </geometry>
            <material name="color[1.0, 1.0, 1.0, 1.0]"/>
            <origin xyz="0.0 0.0 0.0" rpy="0.0 0.0 0.0"/>
        </visual>
        <collision>
            <geometry>
                <cylinder radius="0.1" length="1.0"/>
            </geometry>
            <origin xyz="0.0 0.0 0.0" rpy="0.0 0.0 0.0"/>
        </collision>
    </link>
    <link name="obstacle_19">
        <inertial>
            <origin xyz="0.0 0.0 0.0" rpy="0.0 -0.0 0.0"/>
            <mass value="1.0"/>
            <inertia ixx="1.0" ixy="0.0" ixz="0.0" iyy="1.0" iyz="0.0" izz="1.0"/>
        </inertial>
        <visual>
            <geometry>
                <cylinder radius="0.1" length="1.0"/>
            </geometry>
            <material name="color[1.0, 1.0, 1.0, 1.0]"/>
            <origin xyz="0.0 0.0 0.0" rpy="0.0 0.0 0.0"/>
        </visual>
        <collision>
            <geometry>
                <cylinder radius="0.1" length="1.0"/>
            </geometry>
            <origin xyz="0.0 0.0 0.0" rpy="0.0 0.0 0.0"/>
        </collision>
    </link>
    <link name="obstacle_20">
        <inertial>
            <origin xyz="0.0 0.0 0.0" rpy="0.0 -0.0 0.0"/>
            <mass value="1.0"/>
            <inertia ixx="1.0" ixy="0.0" ixz="0.0" iyy="1.0" iyz="0.0" izz="1.0"/>
        </inertial>
        <visual>
            <geometry>
                <cylinder radius="0.1" length="1.0"/>
            </geometry>
            <material name="color[1.0, 1.0, 1.0, 1.0]"/>
            <origin xyz="0.0 0.0 0.0" rpy="0.0 0.0 0.0"/>
        </visual>
        <collision>
            <geometry>
                <cylinder radius="0.1" length="1.0"/>
            </geometry>
            <origin xyz="0.0 0.0 0.0" rpy="0.0 0.0 0.0"/>
        </collision>
    </link>
    <link name="obstacle_21">
        <inertial>
            <origin xyz="0.0 0.0 0.0" rpy="0.0 -0.0 0.0"/>
            <mass value="1.0"/>
            <inertia ixx="1.0" ixy="0.0" ixz="0.0" iyy="1.0" iyz="0.0" izz="1.0"/>
        </inertial>
        <visual>
            <geometry>
                <cylinder radius="0.1" length="1.0"/>
            </geometry>
            <material name="color[1.0, 1.0, 1.0, 1.0]"/>
            <origin xyz="0.0 0.0 0.0" rpy="0.0 0.0 0.0"/>
        </visual>
        <collision>
            <geometry>
                <cylinder radius="0.1" length="1.0"/>
            </geometry>
            <origin xyz="0.0 0.0 0.0" rpy="0.0 0.0 0.0"/>
        </collision>
    </link>
    <link name="obstacle_22">
        <inertial>
            <origin xyz="0.0 0.0 0.0" rpy="0.0 -0.0 0.0"/>
            <mass value="1.0"/>
            <inertia ixx="1.0" ixy="0.0" ixz="0.0" iyy="1.0" iyz="0.0" izz="1.0"/>
        </inertial>
        <visual>
            <geometry>
                <cylinder radius="0.1" length="1.0"/>
            </geometry>
            <material name="color[1.0, 1.0, 1.0, 1.0]"/>
            <origin xyz="0.0 0.0 0.0" rpy="0.0 0.0 0.0"/>
        </visual>
        <collision>
            <geometry>
                <cylinder radius="0.1" length="1.0"/>
            </geometry>
            <origin xyz="0.0 0.0 0.0" rpy="0.0 0.0 0.0"/>
        </collision>
    </link>
    <link name="obstacle_23">
        <inertial>
            <origin xyz="0.0 0.0 0.0" rpy="0.0 -0.0 0.0"/>
            <mass value="1.0"/>
            <inertia ixx="1.0" ixy="0.0" ixz="0.0" iyy="1.0" iyz="0.0" izz="1.0"/>
        </inertial>
        <visual>
            <geometry>
                <cylinder radius="0.1" length="1.0"/>
            </geometry>
            <material name="color[1.0, 1.0, 1.0, 1.0]"/>
            <origin xyz="0.0 0.0 0.0" rpy="0.0 0.0 0.0"/>
        </visual>
        <collision>
            <geometry>
                <cylinder radius="0.1" length="1.0"/>
            </geometry>
            <origin xyz="0.0 0.0 0.0" rpy="0.0 0.0 0.0"/>
        </collision>
    </link>
    <link name="obstacle_24">
        <inertial>
            <origin xyz="0.0 0.0 0.0" rpy="0.0 -0.0 0.0"/>
            <mass value="1.0"/>
            <inertia ixx="1.0" ixy="0.0" ixz="0.0" iyy="1.0" iyz="0.0" izz="1.0"/>
        </inertial>
        <visual>
            <geometry>
                <cylinder radius="0.1" length="1.0"/>
            </geometry>
            <material name="color[1.0, 1.0, 1.0, 1.0]"/>
            <origin xyz="0.0 0.0 0.0" rpy="0.0 0.0 0.0"/>
        </visual>
        <collision>
            <geometry>
                <cylinder radius="0.1" length="1.0"/>
            </geometry>
            <origin xyz="0.0 0.0 0.0" rpy="0.0 0.0 0.0"/>
        </collision>
    </link>
    <link name="obstacle_25">
        <inertial>
            <origin xyz="0.0 0.0 0.0" rpy="0.0 -0.0 0.0"/>
            <mass value="1.0"/>
            <inertia ixx="1.0" ixy="0.0" ixz="0.0" iyy="1.0" iyz="0.0" izz="1.0"/>
        </inertial>
        <visual>
            <geometry>
                <cylinder radius="0.1" length="1.0"/>
            </geometry>
            <material name="color[1.0, 1.0, 1.0, 1.0]"/>
            <origin xyz="0.0 0.0 0.0" rpy="0.0 0.0 0.0"/>
        </visual>
        <collision>
            <geometry>
                <cylinder radius="0.1" length="1.0"/>
            </geometry>
            <origin xyz="0.0 0.0 0.0" rpy="0.0 0.0 0.0"/>
        </collision>
    </link>
    <link name="obstacle_26">
        <inertial>
            <origin xyz="0.0 0.0 0.0" rpy="0.0 -0.0 0.0"/>
            <mass value="1.0"/>
            <inertia ixx="1.0" ixy="0.0" ixz="0.0" iyy="1.0" iyz="0.0" izz="1.0"/>
        </inertial>
        <visual>
            <geometry>
                <cylinder radius="0.1" length="1.0"/>
            </geometry>
            <material name="color[1.0, 1.0, 1.0, 1.0]"/>
            <origin xyz="0.0 0.0 0.0" rpy="0.0 0.0 0.0"/>
        </visual>
        <collision>
            <geometry>
                <cylinder radius="0.1" length="1.0"/>
            </geometry>
            <origin xyz="0.0 0.0 0.0" rpy="0.0 0.0 0.0"/>
        </collision>
    </link>
    <link name="obstacle_27">
        <inertial>
            <origin xyz="0.0 0.0 0.0" rpy="0.0 -0.0 0.0"/>
            <mass value="1.0"/>
            <inertia ixx="1.0" ixy="0.0" ixz="0.0" iyy="1.0" iyz="0.0" izz="1.0"/>
        </inertial>
        <visual>
            <geometry>
                <cylinder radius="0.1" length="1.0"/>
            </geometry>
            <material name="color[1.0, 1.0, 1.0, 1.0]"/>
            <origin xyz="0.0 0.0 0.0" rpy="0.0 0.0 0.0"/>
        </visual>
        <collision>
            <geometry>
                <cylinder radius="0.1" length="1.0"/>
            </geometry>
            <origin xyz="0.0 0.0 0.0" rpy="0.0 0.0 0.0"/>
        </collision>
    </link>
    <link name="obstacle_28">
        <inertial>
            <origin xyz="0.0 0.0 0.0" rpy="0.0 -0.0 0.0"/>
            <mass value="1.0"/>
            <inertia ixx="1.0" ixy="0.0" ixz="0.0" iyy="1.0" iyz="0.0" izz="1.0"/>
        </inertial>
        <visual>
            <geometry>
                <cylinder radius="0.1" length="1.0"/>
            </geometry>
            <material name="color[1.0, 1.0, 1.0, 1.0]"/>
            <origin xyz="0.0 0.0 0.0" rpy="0.0 0.0 0.0"/>
        </visual>
        <collision>
            <geometry>
                <cylinder radius="0.1" length="1.0"/>
            </geometry>
            <origin xyz="0.0 0.0 0.0" rpy="0.0 0.0 0.0"/>
        </collision>
    </link>
    <link name="obstacle_29">
        <inertial>
            <origin xyz="0.0 0.0 0.0" rpy="0.0 -0.0 0.0"/>
            <mass value="1.0"/>
            <inertia ixx="1.0" ixy="0.0" ixz="0.0" iyy="1.0" iyz="0.0" izz="1.0"/>
        </inertial>
        <visual>
            <geometry>
                <cylinder radius="0.1" length="1.0"/>
            </geometry>
            <material name="color[1.0, 1.0, 1.0, 1.0]"/>
            <origin xyz="0.0 0.0 0.0" rpy="0.0 0.0 0.0"/>
        </visual>
        <collision>
            <geometry>
                <cylinder radius="0.1" length="1.0"/>
            </geometry>
            <origin xyz="0.0 0.0 0.0" rpy="0.0 0.0 0.0"/>
        </collision>
    </link>
    <link name="obstacle_30">
        <inertial>
            <origin xyz="0.0 0.0 0.0" rpy="0.0 -0.0 0.0"/>
            <mass value="1.0"/>
            <inertia ixx="1.0" ixy="0.0" ixz="0.0" iyy="1.0" iyz="0.0" izz="1.0"/>
        </inertial>
        <visual>
            <geometry>
                <cylinder radius="0.1" length="1.0"/>
            </geometry>
            <material name="color[1.0, 1.0, 1.0, 1.0]"/>
            <origin xyz="0.0 0.0 0.0" rpy="0.0 0.0 0.0"/>
        </visual>
        <collision>
            <geometry>
                <cylinder radius="0.1" length="1.0"/>
            </geometry>
            <origin xyz="0.0 0.0 0.0" rpy="0.0 0.0 0.0"/>
        </collision>
    </link>
    <link name="obstacle_31">
        <inertial>
            <origin xyz="0.0 0.0 0.0" rpy="0.0 -0.0 0.0"/>
            <mass value="1.0"/>
            <inertia ixx="1.0" ixy="0.0" ixz="0.0" iyy="1.0" iyz="0.0" izz="1.0"/>
        </inertial>
        <visual>
            <geometry>
                <cylinder radius="0.1" length="1.0"/>
            </geometry>
            <material name="color[1.0, 1.0, 1.0, 1.0]"/>
            <origin xyz="0.0 0.0 0.0" rpy="0.0 0.0 0.0"/>
        </visual>
        <collision>
            <geometry>
                <cylinder radius="0.1" length="1.0"/>
            </geometry>
            <origin xyz="0.0 0.0 0.0" rpy="0.0 0.0 0.0"/>
        </collision>
    </link>
    <link name="obstacle_32">
        <inertial>
            <origin xyz="0.0 0.0 0.0" rpy="0.0 -0.0 0.0"/>
            <mass value="1.0"/>
            <inertia ixx="1.0" ixy="0.0" ixz="0.0" iyy="1.0" iyz="0.0" izz="1.0"/>
        </inertial>
        <visual>
            <geometry>
                <cylinder radius="0.1" length="1.0"/>
            </geometry>
            <material name="color[1.0, 1.0, 1.0, 1.0]"/>
            <origin xyz="0.0 0.0 0.0" rpy="0.0 0.0 0.0"/>
        </visual>
        <collision>
            <geometry>
                <cylinder radius="0.1" length="1.0"/>
            </geometry>
            <origin xyz="0.0 0.0 0.0" rpy="0.0 0.0 0.0"/>
        </collision>
    </link>
    <link name="random_obstacle_0">
        <inertial>
            <origin xyz="0.0 0.0 0.0" rpy="0.0 -0.0 0.0"/>
            <mass value="1.0"/>
            <inertia ixx="1.0" ixy="0.0" ixz="0.0" iyy="1.0" iyz="0.0" izz="1.0"/>
        </inertial>
        <visual>
            <geometry>
                <sphere radius="0.3538655638694763"/>
            </geometry>
            <material name="color[0.0, 0.75, 1.0, 1.0]"/>
            <origin xyz="-0.825276255607605 -1.48781418800354 -1.1735455989837646"
                    rpy="-2.1133150180154523 -1.2724712769216815 1.1249288002676288"/>
        </visual>
        <visual>
            <geometry>
                <sphere radius="0.28810954093933105"/>
            </geometry>
            <material name="color[0.0, 0.75, 1.0, 1.0]"/>
            <origin xyz="-0.40420448780059814 0.9103856086730957 -0.3559509515762329"
                    rpy="-1.3444574514972134 0.7006757259368896 1.556188702583313"/>
        </visual>
        <visual>
            <geometry>
                <sphere radius="0.12905067205429077"/>
            </geometry>
            <material name="color[0.0, 0.75, 1.0, 1.0]"/>
            <origin xyz="0.6798092126846313 -1.0877599716186523 -0.8008022904396057"
                    rpy="2.8766368309683124 1.060075434046336 -1.1137460788064681"/>
        </visual>
        <visual>
            <geometry>
                <cylinder radius="0.1704077422618866" length="0.7499022483825684"/>
            </geometry>
            <material name="color[0.0, 0.75, 1.0, 1.0]"/>
            <origin xyz="-0.7258859872817993 0.03518509864807129 -1.0246222019195557"
                    rpy="0.47627595067024225 1.4116350412368772 0.3920328319072724"/>
        </visual>
        <visual>
            <geometry>
                <cylinder radius="0.17516642808914185" length="0.5006928443908691"/>
            </geometry>
            <material name="color[0.0, 0.75, 1.0, 1.0]"/>
            <origin xyz="-0.9326843023300171 -0.9851607084274292 -0.4992837905883789"
                    rpy="-2.650338236485617 0.37723833322525024 1.787965178489685"/>
        </visual>
        <visual>
            <geometry>
                <cylinder radius="0.22519199550151825" length="0.7150992155075073"/>
            </geometry>
            <material name="color[0.0, 0.75, 1.0, 1.0]"/>
            <origin xyz="-0.6776297092437744 -1.029592752456665 -0.875102698802948"
                    rpy="2.0662336349487305 0.6619936227798462 -0.5074618498431607"/>
        </visual>
        <collision>
            <geometry>
                <sphere radius="0.3538655638694763"/>
            </geometry>
            <origin xyz="-0.825276255607605 -1.48781418800354 -1.1735455989837646"
                    rpy="-2.1133150180154523 -1.2724712769216815 1.1249288002676288"/>
        </collision>
        <collision>
            <geometry>
                <sphere radius="0.28810954093933105"/>
            </geometry>
            <origin xyz="-0.40420448780059814 0.9103856086730957 -0.3559509515762329"
                    rpy="-1.3444574514972134 0.7006757259368896 1.556188702583313"/>
        </collision>
        <collision>
            <geometry>
                <sphere radius="0.12905067205429077"/>
            </geometry>
            <origin xyz="0.6798092126846313 -1.0877599716186523 -0.8008022904396057"
                    rpy="2.8766368309683124 1.060075434046336 -1.1137460788064681"/>
        </collision>
        <collision>
            <geometry>
                <cylinder radius="0.1704077422618866" length="0.7499022483825684"/>
            </geometry>
            <origin xyz="-0.7258859872817993 0.03518509864807129 -1.0246222019195557"
                    rpy="0.47627595067024225 1.4116350412368772 0.3920328319072724"/>
        </collision>
        <collision>
            <geometry>
                <cylinder radius="0.17516642808914185" length="0.5006928443908691"/>
            </geometry>
            <origin xyz="-0.9326843023300171 -0.9851607084274292 -0.4992837905883789"
                    rpy="-2.650338236485617 0.37723833322525024 1.787965178489685"/>
        </collision>
        <collision>
            <geometry>
                <cylinder radius="0.22519199550151825" length="0.7150992155075073"/>
            </geometry>
            <origin xyz="-0.6776297092437744 -1.029592752456665 -0.875102698802948"
                    rpy="2.0662336349487305 0.6619936227798462 -0.5074618498431607"/>
        </collision>
    </link>
    <link name="random_obstacle_1">
        <inertial>
            <origin xyz="0.0 0.0 0.0" rpy="0.0 -0.0 0.0"/>
            <mass value="1.0"/>
            <inertia ixx="1.0" ixy="0.0" ixz="0.0" iyy="1.0" iyz="0.0" izz="1.0"/>
        </inertial>
        <visual>
            <geometry>
                <box size="0.45 0.6  0.29"/>
            </geometry>
            <material name="color[0.0, 0.75, 1.0, 1.0]"/>
            <origin xyz="1.4443981647491455 1.4497103691101074 -0.5749890804290771"
                    rpy="0.53384929895401 0.018344853073358536 -2.2427495161639617"/>
        </visual>
        <visual>
            <geometry>
                <sphere radius="0.1508847326040268"/>
            </geometry>
            <material name="color[0.0, 0.75, 1.0, 1.0]"/>
            <origin xyz="-1.5320981740951538 1.6546533107757568 0.3133045434951782"
                    rpy="-1.5197394529925747 -0.6053522268878384 -0.2797296682940884"/>
        </visual>
        <visual>
            <geometry>
                <cylinder radius="0.18241922557353973" length="0.72723788022995"/>
            </geometry>
            <material name="color[0.0, 0.75, 1.0, 1.0]"/>
            <origin xyz="-1.5622293949127197 3.8217172622680664 -1.1009256839752197"
                    rpy="1.6790283600515643 -1.1040800491995133 1.020879117650441"/>
        </visual>
        <visual>
            <geometry>
                <cylinder radius="0.18084044754505157" length="0.37346526980400085"/>
            </geometry>
            <material name="color[0.0, 0.75, 1.0, 1.0]"/>
            <origin xyz="-1.8393324613571167 2.8395769596099854 -0.22503089904785156"
                    rpy="1.7023528814315796 -0.4431322256671353 -2.4411783854113978"/>
        </visual>
        <visual>
            <geometry>
                <sphere radius="0.13231995701789856"/>
            </geometry>
            <material name="color[0.0, 0.75, 1.0, 1.0]"/>
            <origin xyz="-0.5333436727523804 0.8588502407073975 -0.5136643052101135"
                    rpy="-2.3470048030191144 -1.1203940788931168 2.4317191521353045"/>
        </visual>
        <visual>
            <geometry>
                <cylinder radius="0.26337260007858276" length="0.4558364748954773"/>
            </geometry>
            <material name="color[0.0, 0.75, 1.0, 1.0]"/>
            <origin xyz="-0.7432942390441895 3.04388427734375 0.7882697582244873"
                    rpy="1.174727288884572 0.5520450194650374 -0.831897648172923"/>
        </visual>
        <visual>
            <geometry>
                <sphere radius="0.28502920269966125"/>
            </geometry>
            <material name="color[0.0, 0.75, 1.0, 1.0]"/>
            <origin xyz="1.7937166690826416 1.8020052909851074 -0.3358452320098877"
                    rpy="0.04584321181242844 0.1875788291269026 0.7552743832296648"/>
        </visual>
        <visual>
            <geometry>
                <sphere radius="0.2922130227088928"/>
            </geometry>
            <material name="color[0.0, 0.75, 1.0, 1.0]"/>
            <origin xyz="0.8130691051483154 1.9005248546600342 -0.9043586254119873"
                    rpy="1.219550371170044 0.32745808362960815 2.117551565170288"/>
        </visual>
        <visual>
            <geometry>
                <box size="0.4  0.34 0.68"/>
            </geometry>
            <material name="color[0.0, 0.75, 1.0, 1.0]"/>
            <origin xyz="-1.2551484107971191 1.6843667030334473 1.4510242938995361"
                    rpy="0.45445498625700853 0.8135804255777083 1.2997249046987809"/>
        </visual>
        <visual>
            <geometry>
                <box size="0.25 0.3  0.69"/>
            </geometry>
            <material name="color[0.0, 0.75, 1.0, 1.0]"/>
            <origin xyz="-0.4184091091156006 0.010391473770141602 1.003906011581421"
                    rpy="2.3801797310537616 -1.1449478546804703 -2.1905514915757855"/>
        </visual>
        <collision>
            <geometry>
                <box size="0.45 0.6  0.29"/>
            </geometry>
            <origin xyz="1.4443981647491455 1.4497103691101074 -0.5749890804290771"
                    rpy="0.53384929895401 0.018344853073358536 -2.2427495161639617"/>
        </collision>
        <collision>
            <geometry>
                <sphere radius="0.1508847326040268"/>
            </geometry>
            <origin xyz="-1.5320981740951538 1.6546533107757568 0.3133045434951782"
                    rpy="-1.5197394529925747 -0.6053522268878384 -0.2797296682940884"/>
        </collision>
        <collision>
            <geometry>
                <cylinder radius="0.18241922557353973" length="0.72723788022995"/>
            </geometry>
            <origin xyz="-1.5622293949127197 3.8217172622680664 -1.1009256839752197"
                    rpy="1.6790283600515643 -1.1040800491995133 1.020879117650441"/>
        </collision>
        <collision>
            <geometry>
                <cylinder radius="0.18084044754505157" length="0.37346526980400085"/>
            </geometry>
            <origin xyz="-1.8393324613571167 2.8395769596099854 -0.22503089904785156"
                    rpy="1.7023528814315796 -0.4431322256671353 -2.4411783854113978"/>
        </collision>
        <collision>
            <geometry>
                <sphere radius="0.13231995701789856"/>
            </geometry>
            <origin xyz="-0.5333436727523804 0.8588502407073975 -0.5136643052101135"
                    rpy="-2.3470048030191144 -1.1203940788931168 2.4317191521353045"/>
        </collision>
        <collision>
            <geometry>
                <cylinder radius="0.26337260007858276" length="0.4558364748954773"/>
            </geometry>
            <origin xyz="-0.7432942390441895 3.04388427734375 0.7882697582244873"
                    rpy="1.174727288884572 0.5520450194650374 -0.831897648172923"/>
        </collision>
        <collision>
            <geometry>
                <sphere radius="0.28502920269966125"/>
            </geometry>
            <origin xyz="1.7937166690826416 1.8020052909851074 -0.3358452320098877"
                    rpy="0.04584321181242844 0.1875788291269026 0.7552743832296648"/>
        </collision>
        <collision>
            <geometry>
                <sphere radius="0.2922130227088928"/>
            </geometry>
            <origin xyz="0.8130691051483154 1.9005248546600342 -0.9043586254119873"
                    rpy="1.219550371170044 0.32745808362960815 2.117551565170288"/>
        </collision>
        <collision>
            <geometry>
                <box size="0.4  0.34 0.68"/>
            </geometry>
            <origin xyz="-1.2551484107971191 1.6843667030334473 1.4510242938995361"
                    rpy="0.45445498625700853 0.8135804255777083 1.2997249046987809"/>
        </collision>
        <collision>
            <geometry>
                <box size="0.25 0.3  0.69"/>
            </geometry>
            <origin xyz="-0.4184091091156006 0.010391473770141602 1.003906011581421"
                    rpy="2.3801797310537616 -1.1449478546804703 -2.1905514915757855"/>
        </collision>
    </link>
    <link name="random_obstacle_2">
        <inertial>
            <origin xyz="0.0 0.0 0.0" rpy="0.0 -0.0 0.0"/>
            <mass value="1.0"/>
            <inertia ixx="1.0" ixy="0.0" ixz="0.0" iyy="1.0" iyz="0.0" izz="1.0"/>
        </inertial>
        <visual>
            <geometry>
                <sphere radius="0.12904071807861328"/>
            </geometry>
            <material name="color[0.0, 0.75, 1.0, 1.0]"/>
            <origin xyz="0.8415044546127319 1.5238698720932007 0.2530921697616577"
                    rpy="3.110828161239624 0.7523925304412842 0.4499634802341461"/>
        </visual>
        <visual>
            <geometry>
                <cylinder radius="0.22608394920825958" length="0.3348988890647888"/>
            </geometry>
            <material name="color[0.0, 0.75, 1.0, 1.0]"/>
            <origin xyz="-0.575505256652832 0.8177764415740967 -0.7038348913192749"
                    rpy="-2.052765878038951 -1.042100278539113 -0.9336699565225326"/>
        </visual>
        <visual>
            <geometry>
                <cylinder radius="0.215861514210701" length="0.4643040895462036"/>
            </geometry>
            <material name="color[0.0, 0.75, 1.0, 1.0]"/>
            <origin xyz="-0.48474740982055664 0.6940584182739258 -0.9519956111907959"
                    rpy="-1.3838999907123013 0.9544016122817994 -1.5625723044024868"/>
        </visual>
        <visual>
            <geometry>
                <sphere radius="0.1353134661912918"/>
            </geometry>
            <material name="color[0.0, 0.75, 1.0, 1.0]"/>
            <origin xyz="-0.4727516174316406 1.3710691928863525 0.9391146898269653"
                    rpy="-0.44306460221345045 0.024295242624827417 -0.7232905944162092"/>
        </visual>
        <visual>
            <geometry>
                <sphere radius="0.12529319524765015"/>
            </geometry>
            <material name="color[0.0, 0.75, 1.0, 1.0]"/>
            <origin xyz="0.7482250928878784 1.9457063674926758 -0.2358795404434204"
                    rpy="-2.581264229612895 -0.7063251415914812 1.735501615209035"/>
        </visual>
        <collision>
            <geometry>
                <sphere radius="0.12904071807861328"/>
            </geometry>
            <origin xyz="0.8415044546127319 1.5238698720932007 0.2530921697616577"
                    rpy="3.110828161239624 0.7523925304412842 0.4499634802341461"/>
        </collision>
        <collision>
            <geometry>
                <cylinder radius="0.22608394920825958" length="0.3348988890647888"/>
            </geometry>
            <origin xyz="-0.575505256652832 0.8177764415740967 -0.7038348913192749"
                    rpy="-2.052765878038951 -1.042100278539113 -0.9336699565225326"/>
        </collision>
        <collision>
            <geometry>
                <cylinder radius="0.215861514210701" length="0.4643040895462036"/>
            </geometry>
            <origin xyz="-0.48474740982055664 0.6940584182739258 -0.9519956111907959"
                    rpy="-1.3838999907123013 0.9544016122817994 -1.5625723044024868"/>
        </collision>
        <collision>
            <geometry>
                <sphere radius="0.1353134661912918"/>
            </geometry>
            <origin xyz="-0.4727516174316406 1.3710691928863525 0.9391146898269653"
                    rpy="-0.44306460221345045 0.024295242624827417 -0.7232905944162092"/>
        </collision>
        <collision>
            <geometry>
                <sphere radius="0.12529319524765015"/>
            </geometry>
            <origin xyz="0.7482250928878784 1.9457063674926758 -0.2358795404434204"
                    rpy="-2.581264229612895 -0.7063251415914812 1.735501615209035"/>
        </collision>
    </link>
    <link name="random_obstacle_3">
        <inertial>
            <origin xyz="0.0 0.0 0.0" rpy="0.0 -0.0 0.0"/>
            <mass value="1.0"/>
            <inertia ixx="1.0" ixy="0.0" ixz="0.0" iyy="1.0" iyz="0.0" izz="1.0"/>
        </inertial>
        <visual>
            <geometry>
                <cylinder radius="0.2397044599056244" length="0.49875304102897644"/>
            </geometry>
            <material name="color[0.0, 0.75, 1.0, 1.0]"/>
            <origin xyz="-0.6624847054481506 -0.40876758098602295 -0.3174588680267334"
                    rpy="0.15612448751926422 -0.5638921896563931 -0.5078972021686001"/>
        </visual>
        <visual>
            <geometry>
                <box size="0.4  0.56 0.45"/>
            </geometry>
            <material name="color[0.0, 0.75, 1.0, 1.0]"/>
            <origin xyz="-1.309783935546875 0.37165844440460205 -0.5490461587905884"
                    rpy="-2.0196575244241437 0.24511710007722 -1.0461854060464582"/>
        </visual>
        <visual>
            <geometry>
                <box size="0.59 0.97 0.76"/>
            </geometry>
            <material name="color[0.0, 0.75, 1.0, 1.0]"/>
            <origin xyz="-0.6444390416145325 -0.813827395439148 0.8385071754455566"
                    rpy="-1.2572249491983138 -0.8324576298422136 -1.0900255759530746"/>
        </visual>
        <visual>
            <geometry>
                <box size="0.64 0.24 0.46"/>
            </geometry>
            <material name="color[0.0, 0.75, 1.0, 1.0]"/>
            <origin xyz="0.534203290939331 0.9492428302764893 0.2630833387374878"
                    rpy="-1.035391155873434 -0.04433566728700835 2.6602096557617188"/>
        </visual>
        <visual>
            <geometry>
                <sphere radius="0.21935807168483734"/>
            </geometry>
            <material name="color[0.0, 0.75, 1.0, 1.0]"/>
            <origin xyz="0.6899852752685547 -0.6327890157699585 -0.8018850088119507"
                    rpy="0.9947423934936523 0.04122498631477356 0.717417299747467"/>
        </visual>
        <collision>
            <geometry>
                <cylinder radius="0.2397044599056244" length="0.49875304102897644"/>
            </geometry>
            <origin xyz="-0.6624847054481506 -0.40876758098602295 -0.3174588680267334"
                    rpy="0.15612448751926422 -0.5638921896563931 -0.5078972021686001"/>
        </collision>
        <collision>
            <geometry>
                <box size="0.4  0.56 0.45"/>
            </geometry>
            <origin xyz="-1.309783935546875 0.37165844440460205 -0.5490461587905884"
                    rpy="-2.0196575244241437 0.24511710007722 -1.0461854060464582"/>
        </collision>
        <collision>
            <geometry>
                <box size="0.59 0.97 0.76"/>
            </geometry>
            <origin xyz="-0.6444390416145325 -0.813827395439148 0.8385071754455566"
                    rpy="-1.2572249491983138 -0.8324576298422136 -1.0900255759530746"/>
        </collision>
        <collision>
            <geometry>
                <box size="0.64 0.24 0.46"/>
            </geometry>
            <origin xyz="0.534203290939331 0.9492428302764893 0.2630833387374878"
                    rpy="-1.035391155873434 -0.04433566728700835 2.6602096557617188"/>
        </collision>
        <collision>
            <geometry>
                <sphere radius="0.21935807168483734"/>
            </geometry>
            <origin xyz="0.6899852752685547 -0.6327890157699585 -0.8018850088119507"
                    rpy="0.9947423934936523 0.04122498631477356 0.717417299747467"/>
        </collision>
    </link>
    <link name="random_obstacle_4">
        <inertial>
            <origin xyz="0.0 0.0 0.0" rpy="0.0 -0.0 0.0"/>
            <mass value="1.0"/>
            <inertia ixx="1.0" ixy="0.0" ixz="0.0" iyy="1.0" iyz="0.0" izz="1.0"/>
        </inertial>
        <visual>
            <geometry>
                <box size="0.47 0.48 0.44"/>
            </geometry>
            <material name="color[0.0, 0.75, 1.0, 1.0]"/>
            <origin xyz="-2.297325849533081 4.243688106536865 -1.1157619953155518"
                    rpy="-0.3868161757760725 -1.5070413033193863 -1.4539668877893173"/>
        </visual>
        <visual>
            <geometry>
                <box size="0.56 0.57 0.64"/>
            </geometry>
            <material name="color[0.0, 0.75, 1.0, 1.0]"/>
            <origin xyz="-2.552809000015259 0.9791073799133301 -0.8031924962997437"
                    rpy="3.034268705052785 1.517435344057627 -2.109667332964488"/>
        </visual>
        <visual>
            <geometry>
                <sphere radius="0.3691674768924713"/>
            </geometry>
            <material name="color[0.0, 0.75, 1.0, 1.0]"/>
            <origin xyz="1.5947184562683105 0.5212476253509521 0.1330329179763794"
                    rpy="1.903029290837697 0.290362985926219 -1.8512751181894027"/>
        </visual>
        <visual>
            <geometry>
                <box size="0.5  0.73 0.64"/>
            </geometry>
            <material name="color[0.0, 0.75, 1.0, 1.0]"/>
            <origin xyz="0.12791657447814941 4.107832908630371 0.33204424381256104"
                    rpy="-2.520343367253439 0.7590482234954834 0.20769935846328735"/>
        </visual>
        <visual>
            <geometry>
                <box size="0.27 0.67 0.32"/>
            </geometry>
            <material name="color[0.0, 0.75, 1.0, 1.0]"/>
            <origin xyz="-0.371732234954834 1.157041072845459 -0.7236351370811462"
                    rpy="-2.572655264531271 -1.4308741728412078 -0.539193932210104"/>
        </visual>
        <visual>
            <geometry>
                <sphere radius="0.22276651859283447"/>
            </geometry>
            <material name="color[0.0, 0.75, 1.0, 1.0]"/>
            <origin xyz="2.4233899116516113 3.0351059436798096 1.364713430404663"
                    rpy="-2.676798703270503 1.1999601443582257 1.8323429505056659"/>
        </visual>
        <visual>
            <geometry>
                <sphere radius="0.19228601455688477"/>
            </geometry>
            <material name="color[0.0, 0.75, 1.0, 1.0]"/>
            <origin xyz="1.4046521186828613 3.8011250495910645 -0.8429455161094666"
                    rpy="-2.550186487036296 -0.3397966305441179 0.9307874123281755"/>
        </visual>
        <visual>
            <geometry>
                <cylinder radius="0.28894418478012085" length="0.4272223114967346"/>
            </geometry>
            <material name="color[0.0, 0.75, 1.0, 1.0]"/>
            <origin xyz="0.12920522689819336 2.384748697280884 -1.358384609222412"
                    rpy="-2.9539058228307447 1.5017285664849958 -1.5969387610727035"/>
        </visual>
        <visual>
            <geometry>
                <sphere radius="0.168286994099617"/>
            </geometry>
            <material name="color[0.0, 0.75, 1.0, 1.0]"/>
            <origin xyz="0.9974911212921143 4.78225564956665 -0.7261691093444824"
                    rpy="-1.2832362969690048 -1.1546624581045426 -2.0931650718026837"/>
        </visual>
        <visual>
            <geometry>
                <box size="0.56 0.62 0.47"/>
            </geometry>
            <material name="color[0.0, 0.75, 1.0, 1.0]"/>
            <origin xyz="1.6986274719238281 5.010406970977783 0.24333500862121582"
                    rpy="2.594599723815918 0.23162025213241577 1.9973030090332031"/>
        </visual>
        <visual>
            <geometry>
                <box size="0.53 0.42 0.68"/>
            </geometry>
            <material name="color[0.0, 0.75, 1.0, 1.0]"/>
            <origin xyz="1.595726490020752 1.0090007781982422 0.9480268955230713"
                    rpy="-1.2187960465722762 -0.04808339278166672 -0.620828541117259"/>
        </visual>
        <visual>
            <geometry>
                <cylinder radius="0.15455658733844757" length="0.4806741774082184"/>
            </geometry>
            <material name="color[0.0, 0.75, 1.0, 1.0]"/>
            <origin xyz="2.2354001998901367 5.403701305389404 -0.7307864427566528"
                    rpy="0.8497722148895264 -0.6210864225970669 -0.6797969977008267"/>
        </visual>
        <visual>
            <geometry>
                <box size="0.35 0.49 0.56"/>
            </geometry>
            <material name="color[0.0, 0.75, 1.0, 1.0]"/>
            <origin xyz="0.5531015396118164 3.665086507797241 0.3179715871810913"
                    rpy="2.286562204360962 -0.2432292143451138 -2.6924141089068816"/>
        </visual>
        <visual>
            <geometry>
                <sphere radius="0.3568572402000427"/>
            </geometry>
            <material name="color[0.0, 0.75, 1.0, 1.0]"/>
            <origin xyz="-2.024864912033081 3.936974048614502 -0.7663224935531616"
                    rpy="0.5311165452003479 1.4256314039230347 -0.11181098619569976"/>
        </visual>
        <visual>
            <geometry>
                <sphere radius="0.27623242139816284"/>
            </geometry>
            <material name="color[0.0, 0.75, 1.0, 1.0]"/>
            <origin xyz="-0.38330507278442383 1.6244302988052368 0.7494847774505615"
                    rpy="1.5136735439300537 1.0214390754699707 2.1383752822875977"/>
        </visual>
        <visual>
            <geometry>
                <box size="0.74 0.57 0.59"/>
            </geometry>
            <material name="color[0.0, 0.75, 1.0, 1.0]"/>
            <origin xyz="0.3862926959991455 1.5264170169830322 -0.9765921235084534"
                    rpy="1.6375611702627457 0.5277391989999495 2.8707402626699725"/>
        </visual>
        <visual>
            <geometry>
                <cylinder radius="0.1971605271100998" length="0.43945878744125366"/>
            </geometry>
            <material name="color[0.0, 0.75, 1.0, 1.0]"/>
            <origin xyz="0.044847965240478516 2.818168878555298 0.02061617374420166"
                    rpy="-1.9684441725360318 -0.2206314245807095 2.327420473098755"/>
        </visual>
        <visual>
            <geometry>
                <cylinder radius="0.2269594818353653" length="0.520561933517456"/>
            </geometry>
            <material name="color[0.0, 0.75, 1.0, 1.0]"/>
            <origin xyz="2.137601852416992 4.954943656921387 0.6886882781982422"
                    rpy="0.8295956254005432 1.455484867095947 2.4513490200042725"/>
        </visual>
        <visual>
            <geometry>
                <cylinder radius="0.24579788744449615" length="0.47092530131340027"/>
            </geometry>
            <material name="color[0.0, 0.75, 1.0, 1.0]"/>
            <origin xyz="-2.184634208679199 1.4181382656097412 -1.247073769569397"
                    rpy="-0.40426093736757474 0.16669346392154694 -0.771679226552145"/>
        </visual>
        <visual>
            <geometry>
                <cylinder radius="0.26824891567230225" length="0.568382740020752"/>
            </geometry>
            <material name="color[0.0, 0.75, 1.0, 1.0]"/>
            <origin xyz="1.7959790229797363 4.80753755569458 -1.30231511592865"
                    rpy="1.208834497136525 -0.5930667797750748 0.6754792610830583"/>
        </visual>
        <collision>
            <geometry>
                <box size="0.47 0.48 0.44"/>
            </geometry>
            <origin xyz="-2.297325849533081 4.243688106536865 -1.1157619953155518"
                    rpy="-0.3868161757760725 -1.5070413033193863 -1.4539668877893173"/>
        </collision>
        <collision>
            <geometry>
                <box size="0.56 0.57 0.64"/>
            </geometry>
            <origin xyz="-2.552809000015259 0.9791073799133301 -0.8031924962997437"
                    rpy="3.034268705052785 1.517435344057627 -2.109667332964488"/>
        </collision>
        <collision>
            <geometry>
                <sphere radius="0.3691674768924713"/>
            </geometry>
            <origin xyz="1.5947184562683105 0.5212476253509521 0.1330329179763794"
                    rpy="1.903029290837697 0.290362985926219 -1.8512751181894027"/>
        </collision>
        <collision>
            <geometry>
                <box size="0.5  0.73 0.64"/>
            </geometry>
            <origin xyz="0.12791657447814941 4.107832908630371 0.33204424381256104"
                    rpy="-2.520343367253439 0.7590482234954834 0.20769935846328735"/>
        </collision>
        <collision>
            <geometry>
                <box size="0.27 0.67 0.32"/>
            </geometry>
            <origin xyz="-0.371732234954834 1.157041072845459 -0.7236351370811462"
                    rpy="-2.572655264531271 -1.4308741728412078 -0.539193932210104"/>
        </collision>
        <collision>
            <geometry>
                <sphere radius="0.22276651859283447"/>
            </geometry>
            <origin xyz="2.4233899116516113 3.0351059436798096 1.364713430404663"
                    rpy="-2.676798703270503 1.1999601443582257 1.8323429505056659"/>
        </collision>
        <collision>
            <geometry>
                <sphere radius="0.19228601455688477"/>
            </geometry>
            <origin xyz="1.4046521186828613 3.8011250495910645 -0.8429455161094666"
                    rpy="-2.550186487036296 -0.3397966305441179 0.9307874123281755"/>
        </collision>
        <collision>
            <geometry>
                <cylinder radius="0.28894418478012085" length="0.4272223114967346"/>
            </geometry>
            <origin xyz="0.12920522689819336 2.384748697280884 -1.358384609222412"
                    rpy="-2.9539058228307447 1.5017285664849958 -1.5969387610727035"/>
        </collision>
        <collision>
            <geometry>
                <sphere radius="0.168286994099617"/>
            </geometry>
            <origin xyz="0.9974911212921143 4.78225564956665 -0.7261691093444824"
                    rpy="-1.2832362969690048 -1.1546624581045426 -2.0931650718026837"/>
        </collision>
        <collision>
            <geometry>
                <box size="0.56 0.62 0.47"/>
            </geometry>
            <origin xyz="1.6986274719238281 5.010406970977783 0.24333500862121582"
                    rpy="2.594599723815918 0.23162025213241577 1.9973030090332031"/>
        </collision>
        <collision>
            <geometry>
                <box size="0.53 0.42 0.68"/>
            </geometry>
            <origin xyz="1.595726490020752 1.0090007781982422 0.9480268955230713"
                    rpy="-1.2187960465722762 -0.04808339278166672 -0.620828541117259"/>
        </collision>
        <collision>
            <geometry>
                <cylinder radius="0.15455658733844757" length="0.4806741774082184"/>
            </geometry>
            <origin xyz="2.2354001998901367 5.403701305389404 -0.7307864427566528"
                    rpy="0.8497722148895264 -0.6210864225970669 -0.6797969977008267"/>
        </collision>
        <collision>
            <geometry>
                <box size="0.35 0.49 0.56"/>
            </geometry>
            <origin xyz="0.5531015396118164 3.665086507797241 0.3179715871810913"
                    rpy="2.286562204360962 -0.2432292143451138 -2.6924141089068816"/>
        </collision>
        <collision>
            <geometry>
                <sphere radius="0.3568572402000427"/>
            </geometry>
            <origin xyz="-2.024864912033081 3.936974048614502 -0.7663224935531616"
                    rpy="0.5311165452003479 1.4256314039230347 -0.11181098619569976"/>
        </collision>
        <collision>
            <geometry>
                <sphere radius="0.27623242139816284"/>
            </geometry>
            <origin xyz="-0.38330507278442383 1.6244302988052368 0.7494847774505615"
                    rpy="1.5136735439300537 1.0214390754699707 2.1383752822875977"/>
        </collision>
        <collision>
            <geometry>
                <box size="0.74 0.57 0.59"/>
            </geometry>
            <origin xyz="0.3862926959991455 1.5264170169830322 -0.9765921235084534"
                    rpy="1.6375611702627457 0.5277391989999495 2.8707402626699725"/>
        </collision>
        <collision>
            <geometry>
                <cylinder radius="0.1971605271100998" length="0.43945878744125366"/>
            </geometry>
            <origin xyz="0.044847965240478516 2.818168878555298 0.02061617374420166"
                    rpy="-1.9684441725360318 -0.2206314245807095 2.327420473098755"/>
        </collision>
        <collision>
            <geometry>
                <cylinder radius="0.2269594818353653" length="0.520561933517456"/>
            </geometry>
            <origin xyz="2.137601852416992 4.954943656921387 0.6886882781982422"
                    rpy="0.8295956254005432 1.455484867095947 2.4513490200042725"/>
        </collision>
        <collision>
            <geometry>
                <cylinder radius="0.24579788744449615" length="0.47092530131340027"/>
            </geometry>
            <origin xyz="-2.184634208679199 1.4181382656097412 -1.247073769569397"
                    rpy="-0.40426093736757474 0.16669346392154694 -0.771679226552145"/>
        </collision>
        <collision>
            <geometry>
                <cylinder radius="0.26824891567230225" length="0.568382740020752"/>
            </geometry>
            <origin xyz="1.7959790229797363 4.80753755569458 -1.30231511592865"
                    rpy="1.208834497136525 -0.5930667797750748 0.6754792610830583"/>
        </collision>
    </link>
    <link name="random_obstacle_5">
        <inertial>
            <origin xyz="0.0 0.0 0.0" rpy="0.0 -0.0 0.0"/>
            <mass value="1.0"/>
            <inertia ixx="1.0" ixy="0.0" ixz="0.0" iyy="1.0" iyz="0.0" izz="1.0"/>
        </inertial>
        <visual>
            <geometry>
                <cylinder radius="0.3516489267349243" length="0.3482281565666199"/>
            </geometry>
            <material name="color[0.0, 0.75, 1.0, 1.0]"/>
            <origin xyz="2.4252071380615234 5.0155487060546875 -0.11270523071289062"
                    rpy="-2.954764949279376 -0.13768920103972337 -2.1393413861566266"/>
        </visual>
        <visual>
            <geometry>
                <cylinder radius="0.20683106780052185" length="0.44408583641052246"/>
            </geometry>
            <material name="color[0.0, 0.75, 1.0, 1.0]"/>
            <origin xyz="0.45423197746276855 5.82308292388916 0.28505754470825195"
                    rpy="-1.3220952192889615 -0.7030203978167935 -0.6053498427020474"/>
        </visual>
        <visual>
            <geometry>
                <cylinder radius="0.3741857409477234" length="0.6706832647323608"/>
            </geometry>
            <material name="color[0.0, 0.75, 1.0, 1.0]"/>
            <origin xyz="1.1952567100524902 2.3445968627929688 -2.034757137298584"
                    rpy="1.2787645737356461 -0.48166283766692064 1.4006741921133317"/>
        </visual>
        <visual>
            <geometry>
                <cylinder radius="0.1346730887889862" length="0.3506113588809967"/>
            </geometry>
            <material name="color[0.0, 0.75, 1.0, 1.0]"/>
            <origin xyz="-2.195716142654419 0.8954181671142578 -1.8635212182998657"
                    rpy="0.37306931614875793 1.566877126693728 0.24954377114772797"/>
        </visual>
        <visual>
            <geometry>
                <box size="0.38 0.65 0.28"/>
            </geometry>
            <material name="color[0.0, 0.75, 1.0, 1.0]"/>
            <origin xyz="0.9733009338378906 5.502158164978027 -0.8923883438110352"
                    rpy="2.2277700901031494 -1.4641287962542935 1.5916223526000977"/>
        </visual>
        <visual>
            <geometry>
                <cylinder radius="0.28067928552627563" length="0.5971364974975586"/>
            </geometry>
            <material name="color[0.0, 0.75, 1.0, 1.0]"/>
            <origin xyz="2.254856586456299 3.5144596099853516 0.8158314228057861"
                    rpy="-1.8296356519036971 0.04334321816498855 0.17273887793486495"/>
        </visual>
        <visual>
            <geometry>
                <box size="0.53 0.37 0.63"/>
            </geometry>
            <material name="color[0.0, 0.75, 1.0, 1.0]"/>
            <origin xyz="0.07651281356811523 1.5010911226272583 -2.3731918334960938"
                    rpy="2.890021324157715 0.37624698877334595 -0.9490774313556118"/>
        </visual>
        <visual>
            <geometry>
                <box size="0.74 0.66 0.35"/>
            </geometry>
            <material name="color[0.0, 0.75, 1.0, 1.0]"/>
            <origin xyz="-0.9873156547546387 2.415543794631958 -2.549250841140747"
                    rpy="-1.9977021535211288 0.5127662738137923 2.3837293068594256"/>
        </visual>
        <visual>
            <geometry>
                <box size="0.74 0.44 0.49"/>
            </geometry>
            <material name="color[0.0, 0.75, 1.0, 1.0]"/>
            <origin xyz="2.2275733947753906 4.061152458190918 0.07970309257507324"
                    rpy="-2.716434303914206 0.6167048811912537 2.092660665512085"/>
        </visual>
        <visual>
            <geometry>
                <box size="0.57 0.33 0.38"/>
            </geometry>
            <material name="color[0.0, 0.75, 1.0, 1.0]"/>
            <origin xyz="-1.4279019832611084 2.9387412071228027 -1.8634783029556274"
                    rpy="-0.38958755333954914 -1.2784999291128434 -3.073034646111079"/>
        </visual>
        <visual>
            <geometry>
                <sphere radius="0.22139118611812592"/>
            </geometry>
            <material name="color[0.0, 0.75, 1.0, 1.0]"/>
            <origin xyz="2.0295662879943848 2.1800742149353027 -1.231707215309143"
                    rpy="0.3008520007133484 1.5216063261032113 0.39069810509681696"/>
        </visual>
        <visual>
            <geometry>
                <sphere radius="0.19356054067611694"/>
            </geometry>
            <material name="color[0.0, 0.75, 1.0, 1.0]"/>
            <origin xyz="1.6014323234558105 0.06316232681274414 -1.432898998260498"
                    rpy="1.0246470848745624 0.645470293360301 -0.3423596938424788"/>
        </visual>
        <visual>
            <geometry>
                <sphere radius="0.35138165950775146"/>
            </geometry>
            <material name="color[0.0, 0.75, 1.0, 1.0]"/>
            <origin xyz="0.16469478607177734 3.6030654907226562 2.340395450592041"
                    rpy="2.6239664554595947 1.3529478311538694 2.6334896087646484"/>
        </visual>
        <visual>
            <geometry>
                <box size="0.3  0.46 0.61"/>
            </geometry>
            <material name="color[0.0, 0.75, 1.0, 1.0]"/>
            <origin xyz="1.3382954597473145 4.108403205871582 0.12717676162719727"
                    rpy="1.3483503739065448 -0.00353345076506516 1.7384093681997574"/>
        </visual>
        <visual>
            <geometry>
                <sphere radius="0.2303232103586197"/>
            </geometry>
            <material name="color[0.0, 0.75, 1.0, 1.0]"/>
            <origin xyz="1.3002355098724365 0.818476676940918 2.307290554046631"
                    rpy="-0.7005695422464094 0.6707753260904036 -2.8554239590936383"/>
        </visual>
        <visual>
            <geometry>
                <box size="0.4  0.58 0.74"/>
            </geometry>
            <material name="color[0.0, 0.75, 1.0, 1.0]"/>
            <origin xyz="0.7856988906860352 2.038066864013672 2.7389822006225586"
                    rpy="-2.726759823160716 0.9923521598153793 -3.033438766496726"/>
        </visual>
        <visual>
            <geometry>
                <cylinder radius="0.36492374539375305" length="0.6514413356781006"/>
            </geometry>
            <material name="color[0.0, 0.75, 1.0, 1.0]"/>
            <origin xyz="2.502391815185547 3.58695650100708 1.7326078414916992"
                    rpy="-0.6230962912188931 -0.5154617468463345 1.3831686973571777"/>
        </visual>
        <visual>
            <geometry>
                <box size="0.57 0.48 0.61"/>
            </geometry>
            <material name="color[0.0, 0.75, 1.0, 1.0]"/>
            <origin xyz="-2.1409225463867188 3.7534117698669434 -2.431647777557373"
                    rpy="1.3270862976736344 -0.9921077171987811 -2.7294225712590894"/>
        </visual>
        <visual>
            <geometry>
                <sphere radius="0.21377389132976532"/>
            </geometry>
            <material name="color[0.0, 0.75, 1.0, 1.0]"/>
            <origin xyz="-2.5375823974609375 5.751296520233154 2.515925884246826"
                    rpy="-1.8916042486773892 0.27029934525489807 2.019350528717041"/>
        </visual>
        <visual>
            <geometry>
                <sphere radius="0.18513886630535126"/>
            </geometry>
            <material name="color[0.0, 0.75, 1.0, 1.0]"/>
            <origin xyz="2.0220589637756348 1.8764305114746094 1.0096192359924316"
                    rpy="-2.0238292852984827 0.5259314775466918 0.0941855236887932"/>
        </visual>
        <collision>
            <geometry>
                <cylinder radius="0.3516489267349243" length="0.3482281565666199"/>
            </geometry>
            <origin xyz="2.4252071380615234 5.0155487060546875 -0.11270523071289062"
                    rpy="-2.954764949279376 -0.13768920103972337 -2.1393413861566266"/>
        </collision>
        <collision>
            <geometry>
                <cylinder radius="0.20683106780052185" length="0.44408583641052246"/>
            </geometry>
            <origin xyz="0.45423197746276855 5.82308292388916 0.28505754470825195"
                    rpy="-1.3220952192889615 -0.7030203978167935 -0.6053498427020474"/>
        </collision>
        <collision>
            <geometry>
                <cylinder radius="0.3741857409477234" length="0.6706832647323608"/>
            </geometry>
            <origin xyz="1.1952567100524902 2.3445968627929688 -2.034757137298584"
                    rpy="1.2787645737356461 -0.48166283766692064 1.4006741921133317"/>
        </collision>
        <collision>
            <geometry>
                <cylinder radius="0.1346730887889862" length="0.3506113588809967"/>
            </geometry>
            <origin xyz="-2.195716142654419 0.8954181671142578 -1.8635212182998657"
                    rpy="0.37306931614875793 1.566877126693728 0.24954377114772797"/>
        </collision>
        <collision>
            <geometry>
                <box size="0.38 0.65 0.28"/>
            </geometry>
            <origin xyz="0.9733009338378906 5.502158164978027 -0.8923883438110352"
                    rpy="2.2277700901031494 -1.4641287962542935 1.5916223526000977"/>
        </collision>
        <collision>
            <geometry>
                <cylinder radius="0.28067928552627563" length="0.5971364974975586"/>
            </geometry>
            <origin xyz="2.254856586456299 3.5144596099853516 0.8158314228057861"
                    rpy="-1.8296356519036971 0.04334321816498855 0.17273887793486495"/>
        </collision>
        <collision>
            <geometry>
                <box size="0.53 0.37 0.63"/>
            </geometry>
            <origin xyz="0.07651281356811523 1.5010911226272583 -2.3731918334960938"
                    rpy="2.890021324157715 0.37624698877334595 -0.9490774313556118"/>
        </collision>
        <collision>
            <geometry>
                <box size="0.74 0.66 0.35"/>
            </geometry>
            <origin xyz="-0.9873156547546387 2.415543794631958 -2.549250841140747"
                    rpy="-1.9977021535211288 0.5127662738137923 2.3837293068594256"/>
        </collision>
        <collision>
            <geometry>
                <box size="0.74 0.44 0.49"/>
            </geometry>
            <origin xyz="2.2275733947753906 4.061152458190918 0.07970309257507324"
                    rpy="-2.716434303914206 0.6167048811912537 2.092660665512085"/>
        </collision>
        <collision>
            <geometry>
                <box size="0.57 0.33 0.38"/>
            </geometry>
            <origin xyz="-1.4279019832611084 2.9387412071228027 -1.8634783029556274"
                    rpy="-0.38958755333954914 -1.2784999291128434 -3.073034646111079"/>
        </collision>
        <collision>
            <geometry>
                <sphere radius="0.22139118611812592"/>
            </geometry>
            <origin xyz="2.0295662879943848 2.1800742149353027 -1.231707215309143"
                    rpy="0.3008520007133484 1.5216063261032113 0.39069810509681696"/>
        </collision>
        <collision>
            <geometry>
                <sphere radius="0.19356054067611694"/>
            </geometry>
            <origin xyz="1.6014323234558105 0.06316232681274414 -1.432898998260498"
                    rpy="1.0246470848745624 0.645470293360301 -0.3423596938424788"/>
        </collision>
        <collision>
            <geometry>
                <sphere radius="0.35138165950775146"/>
            </geometry>
            <origin xyz="0.16469478607177734 3.6030654907226562 2.340395450592041"
                    rpy="2.6239664554595947 1.3529478311538694 2.6334896087646484"/>
        </collision>
        <collision>
            <geometry>
                <box size="0.3  0.46 0.61"/>
            </geometry>
            <origin xyz="1.3382954597473145 4.108403205871582 0.12717676162719727"
                    rpy="1.3483503739065448 -0.00353345076506516 1.7384093681997574"/>
        </collision>
        <collision>
            <geometry>
                <sphere radius="0.2303232103586197"/>
            </geometry>
            <origin xyz="1.3002355098724365 0.818476676940918 2.307290554046631"
                    rpy="-0.7005695422464094 0.6707753260904036 -2.8554239590936383"/>
        </collision>
        <collision>
            <geometry>
                <box size="0.4  0.58 0.74"/>
            </geometry>
            <origin xyz="0.7856988906860352 2.038066864013672 2.7389822006225586"
                    rpy="-2.726759823160716 0.9923521598153793 -3.033438766496726"/>
        </collision>
        <collision>
            <geometry>
                <cylinder radius="0.36492374539375305" length="0.6514413356781006"/>
            </geometry>
            <origin xyz="2.502391815185547 3.58695650100708 1.7326078414916992"
                    rpy="-0.6230962912188931 -0.5154617468463345 1.3831686973571777"/>
        </collision>
        <collision>
            <geometry>
                <box size="0.57 0.48 0.61"/>
            </geometry>
            <origin xyz="-2.1409225463867188 3.7534117698669434 -2.431647777557373"
                    rpy="1.3270862976736344 -0.9921077171987811 -2.7294225712590894"/>
        </collision>
        <collision>
            <geometry>
                <sphere radius="0.21377389132976532"/>
            </geometry>
            <origin xyz="-2.5375823974609375 5.751296520233154 2.515925884246826"
                    rpy="-1.8916042486773892 0.27029934525489807 2.019350528717041"/>
        </collision>
        <collision>
            <geometry>
                <sphere radius="0.18513886630535126"/>
            </geometry>
            <origin xyz="2.0220589637756348 1.8764305114746094 1.0096192359924316"
                    rpy="-2.0238292852984827 0.5259314775466918 0.0941855236887932"/>
        </collision>
    </link>
    <link name="gate_1">
        <inertial>
            <origin xyz="0.0 0.0 0.0" rpy="0.0 -0.0 0.0"/>
            <mass value="1.0"/>
            <inertia ixx="1.0" ixy="0.0" ixz="0.0" iyy="1.0" iyz="0.0" izz="1.0"/>
        </inertial>
        <visual>
            <geometry>
                <box size="0.15 1.3  0.15"/>
            </geometry>
            <material name="color[1.0, 0.5, 0.3, 1.0]"/>
            <origin xyz="0.0 0.0 0.575" rpy="0.0 0.0 0.0"/>
        </visual>
        <visual>
            <geometry>
                <box size="0.15 1.3  0.15"/>
            </geometry>
            <material name="color[1.0, 0.5, 0.3, 1.0]"/>
            <origin xyz="0.0 0.0 -0.575" rpy="0.0 0.0 0.0"/>
        </visual>
        <visual>
            <geometry>
                <box size="0.15 0.15 1.3 "/>
            </geometry>
            <material name="color[1.0, 0.5, 0.3, 1.0]"/>
            <origin xyz="0.0 0.575 0.0" rpy="0.0 0.0 0.0"/>
        </visual>
        <visual>
            <geometry>
                <box size="0.15 0.15 1.3 "/>
            </geometry>
            <material name="color[1.0, 0.5, 0.3, 1.0]"/>
            <origin xyz="0.0 -0.575 0.0" rpy="0.0 0.0 0.0"/>
        </visual>
        <collision>
            <geometry>
                <box size="0.15 1.3  0.15"/>
            </geometry>
            <origin xyz="0.0 0.0 0.575" rpy="0.0 0.0 0.0"/>
        </collision>
        <collision>
            <geometry>
                <box size="0.15 1.3  0.15"/>
            </geometry>
            <origin xyz="0.0 0.0 -0.575" rpy="0.0 0.0 0.0"/>
        </collision>
        <collision>
            <geometry>
                <box size="0.15 0.15 1.3 "/>
            </geometry>
            <origin xyz="0.0 0.575 0.0" rpy="0.0 0.0 0.0"/>
        </collision>
        <collision>
            <geometry>
                <box size="0.15 0.15 1.3 "/>
            </geometry>
            <origin xyz="0.0 -0.575 0.0" rpy="0.0 0.0 0.0"/>
        </collision>
    </link>
    <link name="gate_2">
        <inertial>
            <origin xyz="0.0 0.0 0.0" rpy="0.0 -0.0 0.0"/>
            <mass value="1.0"/>
            <inertia ixx="1.0" ixy="0.0" ixz="0.0" iyy="1.0" iyz="0.0" izz="1.0"/>
        </inertial>
        <visual>
            <geometry>
                <box size="0.15 1.3  0.15"/>
            </geometry>
            <material name="color[1.0, 0.5, 0.3, 1.0]"/>
            <origin xyz="0.0 0.0 0.575" rpy="0.0 0.0 0.0"/>
        </visual>
        <visual>
            <geometry>
                <box size="0.15 1.3  0.15"/>
            </geometry>
            <material name="color[1.0, 0.5, 0.3, 1.0]"/>
            <origin xyz="0.0 0.0 -0.575" rpy="0.0 0.0 0.0"/>
        </visual>
        <visual>
            <geometry>
                <box size="0.15 0.15 1.3 "/>
            </geometry>
            <material name="color[1.0, 0.5, 0.3, 1.0]"/>
            <origin xyz="0.0 0.575 0.0" rpy="0.0 0.0 0.0"/>
        </visual>
        <visual>
            <geometry>
                <box size="0.15 0.15 1.3 "/>
            </geometry>
            <material name="color[1.0, 0.5, 0.3, 1.0]"/>
            <origin xyz="0.0 -0.575 0.0" rpy="0.0 0.0 0.0"/>
        </visual>
        <collision>
            <geometry>
                <box size="0.15 1.3  0.15"/>
            </geometry>
            <origin xyz="0.0 0.0 0.575" rpy="0.0 0.0 0.0"/>
        </collision>
        <collision>
            <geometry>
                <box size="0.15 1.3  0.15"/>
            </geometry>
            <origin xyz="0.0 0.0 -0.575" rpy="0.0 0.0 0.0"/>
        </collision>
        <collision>
            <geometry>
                <box size="0.15 0.15 1.3 "/>
            </geometry>
            <origin xyz="0.0 0.575 0.0" rpy="0.0 0.0 0.0"/>
        </collision>
        <collision>
            <geometry>
                <box size="0.15 0.15 1.3 "/>
            </geometry>
            <origin xyz="0.0 -0.575 0.0" rpy="0.0 0.0 0.0"/>
        </collision>
    </link>
    <link name="gate_4">
        <inertial>
            <origin xyz="0.0 0.0 0.0" rpy="0.0 -0.0 0.0"/>
            <mass value="1.0"/>
            <inertia ixx="1.0" ixy="0.0" ixz="0.0" iyy="1.0" iyz="0.0" izz="1.0"/>
        </inertial>
        <visual>
            <geometry>
                <box size="0.15 1.3  0.15"/>
            </geometry>
            <material name="color[1.0, 0.5, 0.3, 1.0]"/>
            <origin xyz="0.0 0.0 0.575" rpy="0.0 0.0 0.0"/>
        </visual>
        <visual>
            <geometry>
                <box size="0.15 1.3  0.15"/>
            </geometry>
            <material name="color[1.0, 0.5, 0.3, 1.0]"/>
            <origin xyz="0.0 0.0 -0.575" rpy="0.0 0.0 0.0"/>
        </visual>
        <visual>
            <geometry>
                <box size="0.15 0.15 1.3 "/>
            </geometry>
            <material name="color[1.0, 0.5, 0.3, 1.0]"/>
            <origin xyz="0.0 0.575 0.0" rpy="0.0 0.0 0.0"/>
        </visual>
        <visual>
            <geometry>
                <box size="0.15 0.15 1.3 "/>
            </geometry>
            <material name="color[1.0, 0.5, 0.3, 1.0]"/>
            <origin xyz="0.0 -0.575 0.0" rpy="0.0 0.0 0.0"/>
        </visual>
        <collision>
            <geometry>
                <box size="0.15 1.3  0.15"/>
            </geometry>
            <origin xyz="0.0 0.0 0.575" rpy="0.0 0.0 0.0"/>
        </collision>
        <collision>
            <geometry>
                <box size="0.15 1.3  0.15"/>
            </geometry>
            <origin xyz="0.0 0.0 -0.575" rpy="0.0 0.0 0.0"/>
        </collision>
        <collision>
            <geometry>
                <box size="0.15 0.15 1.3 "/>
            </geometry>
            <origin xyz="0.0 0.575 0.0" rpy="0.0 0.0 0.0"/>
        </collision>
        <collision>
            <geometry>
                <box size="0.15 0.15 1.3 "/>
            </geometry>
            <origin xyz="0.0 -0.575 0.0" rpy="0.0 0.0 0.0"/>
        </collision>
    </link>
    <link name="gate_6">
        <inertial>
            <origin xyz="0.0 0.0 0.0" rpy="0.0 -0.0 0.0"/>
            <mass value="1.0"/>
            <inertia ixx="1.0" ixy="0.0" ixz="0.0" iyy="1.0" iyz="0.0" izz="1.0"/>
        </inertial>
        <visual>
            <geometry>
                <box size="0.15 1.3  0.15"/>
            </geometry>
            <material name="color[1.0, 0.5, 0.3, 1.0]"/>
            <origin xyz="0.0 0.0 0.575" rpy="0.0 0.0 0.0"/>
        </visual>
        <visual>
            <geometry>
                <box size="0.15 1.3  0.15"/>
            </geometry>
            <material name="color[1.0, 0.5, 0.3, 1.0]"/>
            <origin xyz="0.0 0.0 -0.575" rpy="0.0 0.0 0.0"/>
        </visual>
        <visual>
            <geometry>
                <box size="0.15 0.15 1.3 "/>
            </geometry>
            <material name="color[1.0, 0.5, 0.3, 1.0]"/>
            <origin xyz="0.0 0.575 0.0" rpy="0.0 0.0 0.0"/>
        </visual>
        <visual>
            <geometry>
                <box size="0.15 0.15 1.3 "/>
            </geometry>
            <material name="color[1.0, 0.5, 0.3, 1.0]"/>
            <origin xyz="0.0 -0.575 0.0" rpy="0.0 0.0 0.0"/>
        </visual>
        <collision>
            <geometry>
                <box size="0.15 1.3  0.15"/>
            </geometry>
            <origin xyz="0.0 0.0 0.575" rpy="0.0 0.0 0.0"/>
        </collision>
        <collision>
            <geometry>
                <box size="0.15 1.3  0.15"/>
            </geometry>
            <origin xyz="0.0 0.0 -0.575" rpy="0.0 0.0 0.0"/>
        </collision>
        <collision>
            <geometry>
                <box size="0.15 0.15 1.3 "/>
            </geometry>
            <origin xyz="0.0 0.575 0.0" rpy="0.0 0.0 0.0"/>
        </collision>
        <collision>
            <geometry>
                <box size="0.15 0.15 1.3 "/>
            </geometry>
            <origin xyz="0.0 -0.575 0.0" rpy="0.0 0.0 0.0"/>
        </collision>
    </link>
    <link name="gate_7">
        <inertial>
            <origin xyz="0.0 0.0 0.0" rpy="0.0 -0.0 0.0"/>
            <mass value="1.0"/>
            <inertia ixx="1.0" ixy="0.0" ixz="0.0" iyy="1.0" iyz="0.0" izz="1.0"/>
        </inertial>
        <visual>
            <geometry>
                <box size="0.15 1.3  0.15"/>
            </geometry>
            <material name="color[1.0, 0.5, 0.3, 1.0]"/>
            <origin xyz="0.0 0.0 0.575" rpy="0.0 0.0 0.0"/>
        </visual>
        <visual>
            <geometry>
                <box size="0.15 1.3  0.15"/>
            </geometry>
            <material name="color[1.0, 0.5, 0.3, 1.0]"/>
            <origin xyz="0.0 0.0 -0.575" rpy="0.0 0.0 0.0"/>
        </visual>
        <visual>
            <geometry>
                <box size="0.15 0.15 1.3 "/>
            </geometry>
            <material name="color[1.0, 0.5, 0.3, 1.0]"/>
            <origin xyz="0.0 0.575 0.0" rpy="0.0 0.0 0.0"/>
        </visual>
        <visual>
            <geometry>
                <box size="0.15 0.15 1.3 "/>
            </geometry>
            <material name="color[1.0, 0.5, 0.3, 1.0]"/>
            <origin xyz="0.0 -0.575 0.0" rpy="0.0 0.0 0.0"/>
        </visual>
        <collision>
            <geometry>
                <box size="0.15 1.3  0.15"/>
            </geometry>
            <origin xyz="0.0 0.0 0.575" rpy="0.0 0.0 0.0"/>
        </collision>
        <collision>
            <geometry>
                <box size="0.15 1.3  0.15"/>
            </geometry>
            <origin xyz="0.0 0.0 -0.575" rpy="0.0 0.0 0.0"/>
        </collision>
        <collision>
            <geometry>
                <box size="0.15 0.15 1.3 "/>
            </geometry>
            <origin xyz="0.0 0.575 0.0" rpy="0.0 0.0 0.0"/>
        </collision>
        <collision>
            <geometry>
                <box size="0.15 0.15 1.3 "/>
            </geometry>
            <origin xyz="0.0 -0.575 0.0" rpy="0.0 0.0 0.0"/>
        </collision>
    </link>
    <link name="gate_8">
        <inertial>
            <origin xyz="0.0 0.0 0.0" rpy="0.0 -0.0 0.0"/>
            <mass value="1.0"/>
            <inertia ixx="1.0" ixy="0.0" ixz="0.0" iyy="1.0" iyz="0.0" izz="1.0"/>
        </inertial>
        <visual>
            <geometry>
                <box size="0.15 1.3  0.15"/>
            </geometry>
            <material name="color[1.0, 0.5, 0.3, 1.0]"/>
            <origin xyz="0.0 0.0 0.575" rpy="0.0 0.0 0.0"/>
        </visual>
        <visual>
            <geometry>
                <box size="0.15 1.3  0.15"/>
            </geometry>
            <material name="color[1.0, 0.5, 0.3, 1.0]"/>
            <origin xyz="0.0 0.0 -0.575" rpy="0.0 0.0 0.0"/>
        </visual>
        <visual>
            <geometry>
                <box size="0.15 0.15 1.3 "/>
            </geometry>
            <material name="color[1.0, 0.5, 0.3, 1.0]"/>
            <origin xyz="0.0 0.575 0.0" rpy="0.0 0.0 0.0"/>
        </visual>
        <visual>
            <geometry>
                <box size="0.15 0.15 1.3 "/>
            </geometry>
            <material name="color[1.0, 0.5, 0.3, 1.0]"/>
            <origin xyz="0.0 -0.575 0.0" rpy="0.0 0.0 0.0"/>
        </visual>
        <collision>
            <geometry>
                <box size="0.15 1.3  0.15"/>
            </geometry>
            <origin xyz="0.0 0.0 0.575" rpy="0.0 0.0 0.0"/>
        </collision>
        <collision>
            <geometry>
                <box size="0.15 1.3  0.15"/>
            </geometry>
            <origin xyz="0.0 0.0 -0.575" rpy="0.0 0.0 0.0"/>
        </collision>
        <collision>
            <geometry>
                <box size="0.15 0.15 1.3 "/>
            </geometry>
            <origin xyz="0.0 0.575 0.0" rpy="0.0 0.0 0.0"/>
        </collision>
        <collision>
            <geometry>
                <box size="0.15 0.15 1.3 "/>
            </geometry>
            <origin xyz="0.0 -0.575 0.0" rpy="0.0 0.0 0.0"/>
        </collision>
    </link>
    <link name="gate_9">
        <inertial>
            <origin xyz="0.0 0.0 0.0" rpy="0.0 -0.0 0.0"/>
            <mass value="1.0"/>
            <inertia ixx="1.0" ixy="0.0" ixz="0.0" iyy="1.0" iyz="0.0" izz="1.0"/>
        </inertial>
        <visual>
            <geometry>
                <box size="0.15 1.3  0.15"/>
            </geometry>
            <material name="color[1.0, 0.5, 0.3, 1.0]"/>
            <origin xyz="0.0 0.0 0.575" rpy="0.0 0.0 0.0"/>
        </visual>
        <visual>
            <geometry>
                <box size="0.15 1.3  0.15"/>
            </geometry>
            <material name="color[1.0, 0.5, 0.3, 1.0]"/>
            <origin xyz="0.0 0.0 -0.575" rpy="0.0 0.0 0.0"/>
        </visual>
        <visual>
            <geometry>
                <box size="0.15 0.15 1.3 "/>
            </geometry>
            <material name="color[1.0, 0.5, 0.3, 1.0]"/>
            <origin xyz="0.0 0.575 0.0" rpy="0.0 0.0 0.0"/>
        </visual>
        <visual>
            <geometry>
                <box size="0.15 0.15 1.3 "/>
            </geometry>
            <material name="color[1.0, 0.5, 0.3, 1.0]"/>
            <origin xyz="0.0 -0.575 0.0" rpy="0.0 0.0 0.0"/>
        </visual>
        <collision>
            <geometry>
                <box size="0.15 1.3  0.15"/>
            </geometry>
            <origin xyz="0.0 0.0 0.575" rpy="0.0 0.0 0.0"/>
        </collision>
        <collision>
            <geometry>
                <box size="0.15 1.3  0.15"/>
            </geometry>
            <origin xyz="0.0 0.0 -0.575" rpy="0.0 0.0 0.0"/>
        </collision>
        <collision>
            <geometry>
                <box size="0.15 0.15 1.3 "/>
            </geometry>
            <origin xyz="0.0 0.575 0.0" rpy="0.0 0.0 0.0"/>
        </collision>
        <collision>
            <geometry>
                <box size="0.15 0.15 1.3 "/>
            </geometry>
            <origin xyz="0.0 -0.575 0.0" rpy="0.0 0.0 0.0"/>
        </collision>
    </link>
    <link name="gate_10">
        <inertial>
            <origin xyz="0.0 0.0 0.0" rpy="0.0 -0.0 0.0"/>
            <mass value="1.0"/>
            <inertia ixx="1.0" ixy="0.0" ixz="0.0" iyy="1.0" iyz="0.0" izz="1.0"/>
        </inertial>
        <visual>
            <geometry>
                <box size="0.15 1.3  0.15"/>
            </geometry>
            <material name="color[1.0, 0.5, 0.3, 1.0]"/>
            <origin xyz="0.0 0.0 0.575" rpy="0.0 0.0 0.0"/>
        </visual>
        <visual>
            <geometry>
                <box size="0.15 1.3  0.15"/>
            </geometry>
            <material name="color[1.0, 0.5, 0.3, 1.0]"/>
            <origin xyz="0.0 0.0 -0.575" rpy="0.0 0.0 0.0"/>
        </visual>
        <visual>
            <geometry>
                <box size="0.15 0.15 1.3 "/>
            </geometry>
            <material name="color[1.0, 0.5, 0.3, 1.0]"/>
            <origin xyz="0.0 0.575 0.0" rpy="0.0 0.0 0.0"/>
        </visual>
        <visual>
            <geometry>
                <box size="0.15 0.15 1.3 "/>
            </geometry>
            <material name="color[1.0, 0.5, 0.3, 1.0]"/>
            <origin xyz="0.0 -0.575 0.0" rpy="0.0 0.0 0.0"/>
        </visual>
        <collision>
            <geometry>
                <box size="0.15 1.3  0.15"/>
            </geometry>
            <origin xyz="0.0 0.0 0.575" rpy="0.0 0.0 0.0"/>
        </collision>
        <collision>
            <geometry>
                <box size="0.15 1.3  0.15"/>
            </geometry>
            <origin xyz="0.0 0.0 -0.575" rpy="0.0 0.0 0.0"/>
        </collision>
        <collision>
            <geometry>
                <box size="0.15 0.15 1.3 "/>
            </geometry>
            <origin xyz="0.0 0.575 0.0" rpy="0.0 0.0 0.0"/>
        </collision>
        <collision>
            <geometry>
                <box size="0.15 0.15 1.3 "/>
            </geometry>
            <origin xyz="0.0 -0.575 0.0" rpy="0.0 0.0 0.0"/>
        </collision>
    </link>
    <joint name="base_obstacle_0" type="fixed">
        <parent link="base"/>
        <child link="obstacle_0"/>
        <axis xyz="1. 0. 0."/>
        <origin xyz="-11.35 3.75 1.05" rpy="0.0 0.0 0.0"/>
    </joint>
    <joint name="base_obstacle_1" type="fixed">
        <parent link="base"/>
        <child link="obstacle_1"/>
        <axis xyz="1. 0. 0."/>
        <origin xyz="-13.2 6.45 1.05" rpy="0.0 0.0 0.0"/>
    </joint>
    <joint name="base_obstacle_2" type="fixed">
        <parent link="base"/>
        <child link="obstacle_2"/>
        <axis xyz="1. 0. 0."/>
        <origin xyz="6.5 4.0 6.0" rpy="0.7853981633974483 0.0 0.0"/>
    </joint>
    <joint name="base_obstacle_3" type="fixed">
        <parent link="base"/>
        <child link="obstacle_3"/>
        <axis xyz="1. 0. 0."/>
        <origin xyz="-3.5 4.0 0.325" rpy="0.0 0.0 0.0"/>
    </joint>
    <joint name="base_obstacle_4" type="fixed">
        <parent link="base"/>
        <child link="obstacle_4"/>
        <axis xyz="1. 0. 0."/>
        <origin xyz="-3.5 6.0 0.325" rpy="0.0 0.0 0.0"/>
    </joint>
    <joint name="base_obstacle_5" type="fixed">
        <parent link="base"/>
        <child link="obstacle_5"/>
        <axis xyz="1. 0. 0."/>
        <origin xyz="-3.5 6.25 0.975" rpy="0.0 0.0 0.0"/>
    </joint>
    <joint name="base_obstacle_6" type="fixed">
        <parent link="base"/>
        <child link="obstacle_6"/>
        <axis xyz="1. 0. 0."/>
        <origin xyz="-3.25 4.0 0.975" rpy="0.0 0.0 0.0"/>
    </joint>
    <joint name="base_obstacle_7" type="fixed">
        <parent link="base"/>
        <child link="obstacle_7"/>
        <axis xyz="1. 0. 0."/>
        <origin xyz="-3.75 6.0 1.625" rpy="0.0 0.0 0.0"/>
    </joint>
    <joint name="base_obstacle_8" type="fixed">
        <parent link="base"/>
        <child link="obstacle_8"/>
        <axis xyz="1. 0. 0."/>
        <origin xyz="-3.5 4.0 1.625" rpy="0.0 0.0 0.0"/>
    </joint>
    <joint name="base_obstacle_9" type="fixed">
        <parent link="base"/>
        <child link="obstacle_9"/>
        <axis xyz="1. 0. 0."/>
        <origin xyz="-3.5 4.5 2.275" rpy="0.0 0.0 0.0"/>
    </joint>
    <joint name="base_obstacle_10" type="fixed">
        <parent link="base"/>
        <child link="obstacle_10"/>
        <axis xyz="1. 0. 0."/>
        <origin xyz="-3.5 5.15 2.275" rpy="0.0 0.0 0.0"/>
    </joint>
    <joint name="base_obstacle_11" type="fixed">
        <parent link="base"/>
        <child link="obstacle_11"/>
        <axis xyz="1. 0. 0."/>
        <origin xyz="-3.5 5.8 2.275" rpy="0.0 0.0 0.0"/>
    </joint>
    <joint name="base_obstacle_12" type="fixed">
        <parent link="base"/>
        <child link="obstacle_12"/>
        <axis xyz="1. 0. 0."/>
        <origin xyz="4.0 5.0 1.0" rpy="0.0 0.0 0.7853981633974483"/>
    </joint>
    <joint name="base_obstacle_13" type="fixed">
        <parent link="base"/>
        <child link="obstacle_13"/>
        <axis xyz="1. 0. 0."/>
        <origin xyz="6.0 -0.7 1.0" rpy="0.0 0.0 0.0"/>
    </joint>
    <joint name="base_obstacle_14" type="fixed">
        <parent link="base"/>
        <child link="obstacle_14"/>
        <axis xyz="1. 0. 0."/>
        <origin xyz="6.0 1.1 1.0" rpy="0.0 0.0 0.0"/>
    </joint>
    <joint name="base_obstacle_15" type="fixed">
        <parent link="base"/>
        <child link="obstacle_15"/>
        <axis xyz="1. 0. 0."/>
        <origin xyz="2.0 -0.7 1.0" rpy="0.0 0.0 0.0"/>
    </joint>
    <joint name="base_obstacle_16" type="fixed">
        <parent link="base"/>
        <child link="obstacle_16"/>
        <axis xyz="1. 0. 0."/>
        <origin xyz="2.0 1.1 1.0" rpy="0.0 0.0 0.0"/>
    </joint>
    <joint name="base_obstacle_17" type="fixed">
        <parent link="base"/>
        <child link="obstacle_17"/>
        <axis xyz="1. 0. 0."/>
        <origin xyz="4.0 0.0 1.0" rpy="0.0 0.0 0.0"/>
    </joint>
    <joint name="base_obstacle_18" type="fixed">
        <parent link="base"/>
        <child link="obstacle_18"/>
        <axis xyz="1. 0. 0."/>
        <origin xyz="5.6 -0.8 2.0" rpy="0.0 0.0 0.0"/>
    </joint>
    <joint name="base_obstacle_19" type="fixed">
        <parent link="base"/>
        <child link="obstacle_19"/>
        <axis xyz="1. 0. 0."/>
        <origin xyz="6.3 -1.05 2.0" rpy="0.0 0.0 0.0"/>
    </joint>
    <joint name="base_obstacle_20" type="fixed">
        <parent link="base"/>
        <child link="obstacle_20"/>
        <axis xyz="1. 0. 0."/>
        <origin xyz="6.3 -0.28 2.0" rpy="0.0 0.0 0.0"/>
    </joint>
    <joint name="base_obstacle_21" type="fixed">
        <parent link="base"/>
        <child link="obstacle_21"/>
        <axis xyz="1. 0. 0."/>
        <origin xyz="5.6 0.8 2.0" rpy="0.0 0.0 0.0"/>
    </joint>
    <joint name="base_obstacle_22" type="fixed">
        <parent link="base"/>
        <child link="obstacle_22"/>
        <axis xyz="1. 0. 0."/>
        <origin xyz="6.3 0.67 2.0" rpy="0.0 0.0 0.0"/>
    </joint>
    <joint name="base_obstacle_23" type="fixed">
        <parent link="base"/>
        <child link="obstacle_23"/>
        <axis xyz="1. 0. 0."/>
        <origin xyz="6.3 1.4 2.0" rpy="0.0 0.0 0.0"/>
    </joint>
    <joint name="base_obstacle_24" type="fixed">
        <parent link="base"/>
        <child link="obstacle_24"/>
        <axis xyz="1. 0. 0."/>
        <origin xyz="3.5 0.0 2.0" rpy="0.0 0.0 0.0"/>
    </joint>
    <joint name="base_obstacle_25" type="fixed">
        <parent link="base"/>
        <child link="obstacle_25"/>
        <axis xyz="1. 0. 0."/>
        <origin xyz="4.2 -0.3 2.0" rpy="0.0 0.0 0.0"/>
    </joint>
    <joint name="base_obstacle_26" type="fixed">
        <parent link="base"/>
        <child link="obstacle_26"/>
        <axis xyz="1. 0. 0."/>
        <origin xyz="4.2 0.3 2.0" rpy="0.0 0.0 0.0"/>
    </joint>
    <joint name="base_obstacle_27" type="fixed">
        <parent link="base"/>
        <child link="obstacle_27"/>
        <axis xyz="1. 0. 0."/>
        <origin xyz="1.6 -0.8 2.0" rpy="0.0 0.0 0.0"/>
    </joint>
    <joint name="base_obstacle_28" type="fixed">
        <parent link="base"/>
        <child link="obstacle_28"/>
        <axis xyz="1. 0. 0."/>
        <origin xyz="2.3 -1.05 2.0" rpy="0.0 0.0 0.0"/>
    </joint>
    <joint name="base_obstacle_29" type="fixed">
        <parent link="base"/>
        <child link="obstacle_29"/>
        <axis xyz="1. 0. 0."/>
        <origin xyz="2.3 -0.28 2.0" rpy="0.0 0.0 0.0"/>
    </joint>
    <joint name="base_obstacle_30" type="fixed">
        <parent link="base"/>
        <child link="obstacle_30"/>
        <axis xyz="1. 0. 0."/>
        <origin xyz="1.6 0.8 2.0" rpy="0.0 0.0 0.0"/>
    </joint>
    <joint name="base_obstacle_31" type="fixed">
        <parent link="base"/>
        <child link="obstacle_31"/>
        <axis xyz="1. 0. 0."/>
        <origin xyz="2.3 0.67 2.0" rpy="0.0 0.0 0.0"/>
    </joint>
    <joint name="base_obstacle_32" type="fixed">
        <parent link="base"/>
        <child link="obstacle_32"/>
        <axis xyz="1. 0. 0."/>
        <origin xyz="2.3 1.4 2.0" rpy="0.0 0.0 0.0"/>
    </joint>
    <joint name="base_random_obstacle_0" type="fixed">
        <parent link="base"/>
        <child link="random_obstacle_0"/>
        <axis xyz="1. 0. 0."/>
        <origin xyz="-6.874023199081421 -0.013643383979797363 1.8409327864646912"
                rpy="0.0 0.04176143518969776 -3.0993392535157573"/>
    </joint>
    <joint name="base_random_obstacle_1" type="fixed">
        <parent link="base"/>
        <child link="random_obstacle_1"/>
        <axis xyz="1. 0. 0."/>
        <origin xyz="-10.755595684051514 2.567715287208557 1.420547068119049"
                rpy="0.0 0.10401933439851463 2.0791036934861866"/>
    </joint>
    <joint name="base_random_obstacle_2" type="fixed">
        <parent link="base"/>
        <child link="random_obstacle_2"/>
        <axis xyz="1. 0. 0."/>
        <origin xyz="-9.875 5.0194947719573975 1.2294062972068787" rpy="0.0 -0.05417895364433465 -0.0967518031363746"/>
    </joint>
    <joint name="base_random_obstacle_3" type="fixed">
        <parent link="base"/>
        <child link="random_obstacle_3"/>
        <axis xyz="1. 0. 0."/>
        <origin xyz="3.8941770493984222 5.573401927947998 1.3523299098014832"
                rpy="0.0 -0.0441485892554244 0.12580624010156527"/>
    </joint>
    <joint name="base_random_obstacle_4" type="fixed">
        <parent link="base"/>
        <child link="random_obstacle_4"/>
        <axis xyz="1. 0. 0."/>
        <origin xyz="7.109131813049316 2.6916585564613342 3.5050458908081055"
                rpy="0.0 -0.5456162516209558 -1.6014719122491685"/>
    </joint>
    <joint name="base_random_obstacle_5" type="fixed">
        <parent link="base"/>
        <child link="random_obstacle_5"/>
        <axis xyz="1. 0. 0."/>
        <origin xyz="6.8979332447052 2.6523543000221252 6.913176536560059"
                rpy="0.0 -0.40601772061079744 1.6044765366295912"/>
    </joint>
    <joint name="base_gate_1" type="fixed">
        <parent link="base"/>
        <child link="gate_1"/>
        <axis xyz="1. 0. 0."/>
        <origin xyz="-4.4868550300598145 0.08728265762329102 1.940771460533142"
                rpy="-0.128042271852731 0.15170334293937857 -3.1089271186072085"/>
    </joint>
    <joint name="base_gate_2" type="fixed">
        <parent link="base"/>
        <child link="gate_2"/>
        <axis xyz="1. 0. 0."/>
        <origin xyz="-9.261191368103027 -0.11456942558288574 1.7410941123962402"
                rpy="-0.04928495847571077 0.26908992444129587 -3.0899976358950343"/>
    </joint>
    <joint name="base_gate_4" type="fixed">
        <parent link="base"/>
        <child link="gate_4"/>
        <axis xyz="1. 0. 0."/>
        <origin xyz="-7.5 4.788989543914795 1.3588125705718994"
                rpy="-0.20988369221963113 0.016472962116739112 -0.34476504497546967"/>
    </joint>
    <joint name="base_gate_6" type="fixed">
        <parent link="base"/>
        <child link="gate_6"/>
        <axis xyz="1. 0. 0."/>
        <origin xyz="0.5779253840446472 5.153981685638428 1.2046598196029663"
                rpy="-0.11008600807141262 0.04689414721898417 -0.09465948100956051"/>
    </joint>
    <joint name="base_gate_7" type="fixed">
        <parent link="base"/>
        <child link="gate_7"/>
        <axis xyz="1. 0. 0."/>
        <origin xyz="7.210428714752197 5.992822170257568 1.5"
                rpy="-0.1526019933597122 0.2015033900594243 0.06245703645102675"/>
    </joint>
    <joint name="base_gate_8" type="fixed">
        <parent link="base"/>
        <child link="gate_8"/>
        <axis xyz="1. 0. 0."/>
        <origin xyz="7.0078349113464355 -0.6095050573348999 5.510091781616211"
                rpy="-0.1348652655983788 -0.2677414827576047 -2.8551704773000983"/>
    </joint>
    <joint name="base_gate_9" type="fixed">
        <parent link="base"/>
        <child link="gate_9"/>
        <axis xyz="1. 0. 0."/>
        <origin xyz="6.788031578063965 5.91421365737915 8.316261291503906"
                rpy="-0.006072340180516923 0.27318182152193216 -0.2480160311298762"/>
    </joint>
    <joint name="base_gate_10" type="fixed">
        <parent link="base"/>
        <child link="gate_10"/>
        <axis xyz="1. 0. 0."/>
        <origin xyz="9.062963485717773 -0.48254019021987915 1.6541759967803955"
                rpy="-0.12021209554995048 0.10695945695165959 3.0688678494902364"/>
    </joint>
    <material name="color[1.0, 1.0, 1.0, 1.0]">
        <color rgba="1. 1. 1. 1."/>
    </material>
    <material name="color[0.0, 0.75, 1.0, 1.0]">
        <color rgba="0.   0.75 1.   1.  "/>
    </material>
    <material name="color[1.0, 0.5, 0.3, 1.0]">
        <color rgba="1.  0.5 0.3 1. "/>
    </material>
</robot>
